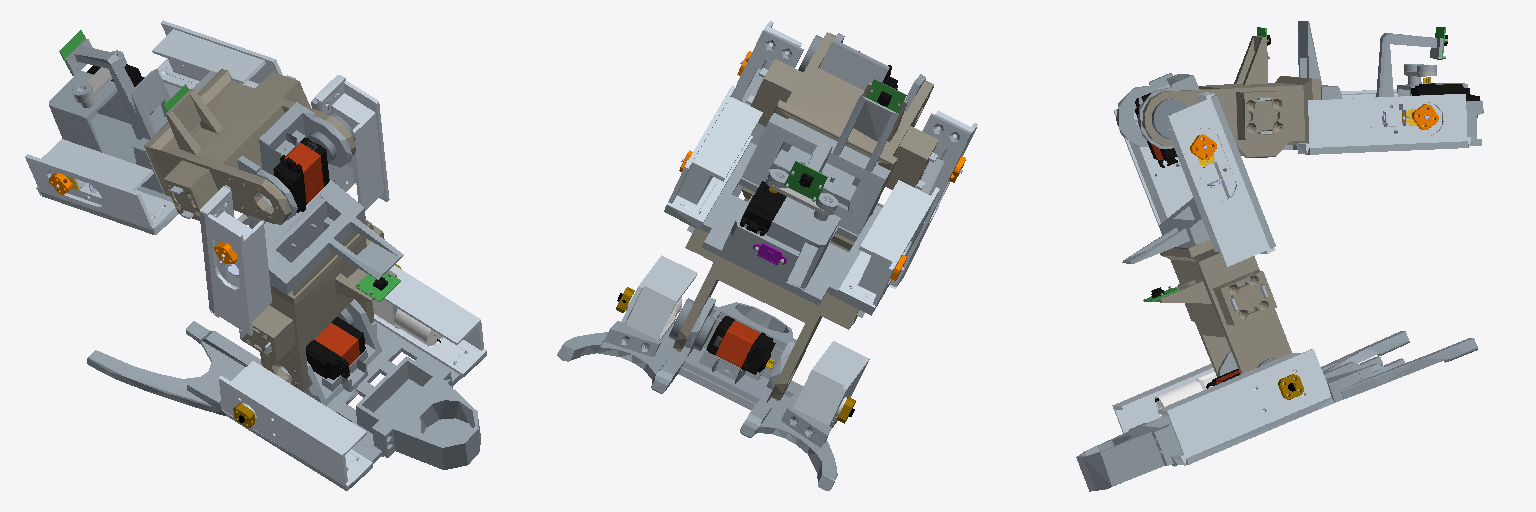
--- Render facts (derived) ---
3 views of the same robot in one strip: view 1: azimuth 30°, elevation 25°; view 2: azimuth 150°, elevation 25°; view 3: azimuth 270°, elevation 25° (orthographic).
Robot: modular_arm — 5 links, 4 joints (4 revolute); root link bot1; default pose: every joint at zero.
Visible links, largest first — view 1: endsegment, bot1, midsegment; view 2: endsegment, bot1, midsegment; view 3: midsegment, endsegment, bot1.
Link boxes in pixels (x1,y1,x2,y2): endsegment: (25,20,355,234); bot1: (87,264,486,490); midsegment: (199,75,403,391); endsegment: (664,32,939,315); bot1: (557,255,869,490); midsegment: (669,21,977,400); midsegment: (1114,73,1291,376); endsegment: (1117,21,1483,157); bot1: (1076,331,1477,491).
Bounding box of the posed robot: 0.2998 × 0.2994 × 0.3144 m (x, y, z).
Meshes: 85 distinct files referenced, 232 mesh visuals loaded (77 binary STL); not drawn: 11 (reference not matched to a file when rendering).

The robot description file, URDF, robot "modular_arm":
<robot name="modular_arm">
<link name="bot1">
<visual>
<origin xyz="0.0081837064445722685485 0.010723803857269779971 -0.1444902237498483788" rpy="2.1453176956961983457 1.0918657809631209243 0.90691641514801224488" />
<geometry>
<mesh filename="dchub.stl"/>
</geometry>
<material name="dchub_material">
<color rgba="0 0 0 1.0"/>
</material>
</visual>
<collision>
<origin xyz="0.0081837064445722685485 0.010723803857269779971 -0.1444902237498483788" rpy="2.1453176956961983457 1.0918657809631209243 0.90691641514801224488" />
<geometry>
<mesh filename="dchub.stl"/>
</geometry>
</collision>
<visual>
<origin xyz="0.064385462572451021557 0.033135729400711827486 -0.11114538601617256208" rpy="-2.1453176956961859112 -1.0918657809631071576 -2.2346762384417635516" />
<geometry>
<mesh filename="servobasescrewa.stl"/>
</geometry>
<material name="servobasescrewa_material">
<color rgba="0.10196078431372548878 0.10196078431372548878 0.10196078431372548878 1.0"/>
</material>
</visual>
<collision>
<origin xyz="0.064385462572451021557 0.033135729400711827486 -0.11114538601617256208" rpy="-2.1453176956961859112 -1.0918657809631071576 -2.2346762384417635516" />
<geometry>
<mesh filename="servobasescrewa.stl"/>
</geometry>
</collision>
<visual>
<origin xyz="0.064385462572451021557 0.033135729400711827486 -0.11114538601617256208" rpy="-2.1453176956961859112 -1.0918657809631071576 -2.2346762384417635516" />
<geometry>
<mesh filename="servobodyhidden.stl"/>
</geometry>
<material name="servobodyhidden_material">
<color rgba="0.64705882352941179736 0.51764705882352946009 0 1.0"/>
</material>
</visual>
<collision>
<origin xyz="0.064385462572451021557 0.033135729400711827486 -0.11114538601617256208" rpy="-2.1453176956961859112 -1.0918657809631071576 -2.2346762384417635516" />
<geometry>
<mesh filename="servobodyhidden.stl"/>
</geometry>
</collision>
<visual>
<origin xyz="0.0081837064445722685485 0.010723803857269779971 -0.1444902237498483788" rpy="2.1453176956961983457 1.0918657809631209243 0.90691641514801224488" />
<geometry>
<mesh filename="dcsocketb.stl"/>
</geometry>
<material name="dcsocketb_material">
<color rgba="0 0 0 1.0"/>
</material>
</visual>
<collision>
<origin xyz="0.0081837064445722685485 0.010723803857269779971 -0.1444902237498483788" rpy="2.1453176956961983457 1.0918657809631209243 0.90691641514801224488" />
<geometry>
<mesh filename="dcsocketb.stl"/>
</geometry>
</collision>
<visual>
<origin xyz="0.042216965619379681618 -0.057380879815870179661 -0.18849781179869271042" rpy="-1.2957668982257894985 -0.39720697603654209207 0.2767029042969176289" />
<geometry>
<mesh filename="platebase1_2_stilt1.stl"/>
</geometry>
<material name="platebase1(2)stilt1_material">
<color rgba="0.62352941176470588758 0.66666666666666662966 0.70196078431372543882 1.0"/>
</material>
</visual>
<collision>
<origin xyz="0.042216965619379681618 -0.057380879815870179661 -0.18849781179869271042" rpy="-1.2957668982257894985 -0.39720697603654209207 0.2767029042969176289" />
<geometry>
<mesh filename="platebase1_2_stilt1.stl"/>
</geometry>
</collision>
<visual>
<origin xyz="0.064385462572451021557 0.033135729400711827486 -0.11114538601617256208" rpy="-2.1453176956961859112 -1.0918657809631071576 -2.2346762384417635516" />
<geometry>
<mesh filename="servobasescrewc.stl"/>
</geometry>
<material name="servobasescrewc_material">
<color rgba="0.10196078431372548878 0.10196078431372548878 0.10196078431372548878 1.0"/>
</material>
</visual>
<collision>
<origin xyz="0.064385462572451021557 0.033135729400711827486 -0.11114538601617256208" rpy="-2.1453176956961859112 -1.0918657809631071576 -2.2346762384417635516" />
<geometry>
<mesh filename="servobasescrewc.stl"/>
</geometry>
</collision>
<visual>
<origin xyz="0.042206845482533270064 -0.057378549547601860603 -0.1884986939638342851" rpy="-1.2957683116204534723 -0.39720792675424199114 0.27670655794550508277" />
<geometry>
<mesh filename="platebase1_3.stl"/>
</geometry>
<material name="platebase1(3)_material">
<color rgba="0.62352941176470588758 0.66666666666666662966 0.70196078431372543882 1.0"/>
</material>
</visual>
<collision>
<origin xyz="0.042206845482533270064 -0.057378549547601860603 -0.1884986939638342851" rpy="-1.2957683116204534723 -0.39720792675424199114 0.27670655794550508277" />
<geometry>
<mesh filename="platebase1_3.stl"/>
</geometry>
</collision>
<visual>
<origin xyz="0.064385462572451021557 0.033135729400711827486 -0.11114538601617256208" rpy="-2.1453176956961859112 -1.0918657809631071576 -2.2346762384417635516" />
<geometry>
<mesh filename="servogearbase.stl"/>
</geometry>
<material name="servogearbase_material">
<color rgba="0.29803921568627450567 0.29803921568627450567 0.29803921568627450567 1.0"/>
</material>
</visual>
<collision>
<origin xyz="0.064385462572451021557 0.033135729400711827486 -0.11114538601617256208" rpy="-2.1453176956961859112 -1.0918657809631071576 -2.2346762384417635516" />
<geometry>
<mesh filename="servogearbase.stl"/>
</geometry>
</collision>
<visual>
<origin xyz="0.064385462572451021557 0.033135729400711827486 -0.11114538601617256208" rpy="-2.1453176956961859112 -1.0918657809631071576 -2.2346762384417635516" />
<geometry>
<mesh filename="servobasescrewb.stl"/>
</geometry>
<material name="servobasescrewb_material">
<color rgba="0.10196078431372548878 0.10196078431372548878 0.10196078431372548878 1.0"/>
</material>
</visual>
<collision>
<origin xyz="0.064385462572451021557 0.033135729400711827486 -0.11114538601617256208" rpy="-2.1453176956961859112 -1.0918657809631071576 -2.2346762384417635516" />
<geometry>
<mesh filename="servobasescrewb.stl"/>
</geometry>
</collision>
<visual>
<origin xyz="0.064385462572451021557 0.033135729400711827486 -0.11114538601617256208" rpy="-2.1453176956961859112 -1.0918657809631071576 -2.2346762384417635516" />
<geometry>
<mesh filename="servogear.stl"/>
</geometry>
<material name="servogear_material">
<color rgba="0.82745098039215680963 0.66666666666666662966 0.12941176470588236502 1.0"/>
</material>
</visual>
<collision>
<origin xyz="0.064385462572451021557 0.033135729400711827486 -0.11114538601617256208" rpy="-2.1453176956961859112 -1.0918657809631071576 -2.2346762384417635516" />
<geometry>
<mesh filename="servogear.stl"/>
</geometry>
</collision>
<visual>
<origin xyz="0.14808957773150399628 0.058459742986234158879 -0.080204709854196684637" rpy="1.8458243419693356469 -0.3972079267542417691 0.27670655794550563789" />
<geometry>
<mesh filename="screwhub_v0_1_6mm.stl"/>
</geometry>
<material name="screwhub_v0.1_6mm_material">
<color rgba="0.65098039215686276382 0.48627450980392156188 0.019607843137254901689 1.0"/>
</material>
</visual>
<collision>
<origin xyz="0.14808957773150399628 0.058459742986234158879 -0.080204709854196684637" rpy="1.8458243419693356469 -0.3972079267542417691 0.27670655794550563789" />
<geometry>
<mesh filename="screwhub_v0_1_6mm.stl"/>
</geometry>
</collision>
<visual>
<origin xyz="0.14301783859245889574 0.049015607671907025777 -0.085689759733414361254" rpy="-2.1453176956961823585 -1.0918657809631167055 -2.2346762384417857561" />
<geometry>
<mesh filename="dcsocketa.stl"/>
</geometry>
<material name="dcsocketa_material">
<color rgba="0 0 0 1.0"/>
</material>
</visual>
<collision>
<origin xyz="0.14301783859245889574 0.049015607671907025777 -0.085689759733414361254" rpy="-2.1453176956961823585 -1.0918657809631167055 -2.2346762384417857561" />
<geometry>
<mesh filename="dcsocketa.stl"/>
</geometry>
</collision>
<visual>
<origin xyz="0.040787079529889781748 -0.059193316483989379118 -0.18406125262829986511" rpy="-1.2957683116204576912 -0.39720792675424215767 0.27670655794550508277" />
<geometry>
<mesh filename="motormountleft.stl"/>
</geometry>
<material name="motormountleft_material">
<color rgba="0.81176470588235294379 0.85882352941176465233 0.89803921568627453897 1.0"/>
</material>
</visual>
<collision>
<origin xyz="0.040787079529889781748 -0.059193316483989379118 -0.18406125262829986511" rpy="-1.2957683116204576912 -0.39720792675424215767 0.27670655794550508277" />
<geometry>
<mesh filename="motormountleft.stl"/>
</geometry>
</collision>
<visual>
<origin xyz="-0.0027117542760007212234 0.015633383456705868264 -0.14596838671468201354" rpy="-0.27502801517443808965 0.39720792675424165807 -2.8648860956442883108" />
<geometry>
<mesh filename="screwhub_v0_1_6mm.stl"/>
</geometry>
<material name="screwhub_v0.1_6mm_material">
<color rgba="0.65098039215686276382 0.48627450980392156188 0.019607843137254901689 1.0"/>
</material>
</visual>
<collision>
<origin xyz="-0.0027117542760007212234 0.015633383456705868264 -0.14596838671468201354" rpy="-0.27502801517443808965 0.39720792675424165807 -2.8648860956442883108" />
<geometry>
<mesh filename="screwhub_v0_1_6mm.stl"/>
</geometry>
</collision>
<visual>
<origin xyz="0.0081837064445722685485 0.010723803857269779971 -0.1444902237498483788" rpy="2.1453176956961983457 1.0918657809631209243 0.90691641514801224488" />
<geometry>
<mesh filename="92010a811_passivated_18_8_stainless_steel_phillips_flat_head_screw.stl"/>
</geometry>
<material name="92010a811_passivated_18-8_stainless_steel_phillips_flat_head_screw_material">
<color rgba="0.96470588235294119084 0.96470588235294119084 0.95294117647058818044 1.0"/>
</material>
</visual>
<collision>
<origin xyz="0.0081837064445722685485 0.010723803857269779971 -0.1444902237498483788" rpy="2.1453176956961983457 1.0918657809631209243 0.90691641514801224488" />
<geometry>
<mesh filename="92010a811_passivated_18_8_stainless_steel_phillips_flat_head_screw.stl"/>
</geometry>
</collision>
<visual>
<origin xyz="0.0081837064445722685485 0.010723803857269779971 -0.1444902237498483788" rpy="2.1453176956961983457 1.0918657809631209243 0.90691641514801224488" />
<geometry>
<mesh filename="dcscrewb.stl"/>
</geometry>
<material name="dcscrewb_material">
<color rgba="0.96470588235294119084 0.96470588235294119084 0.95294117647058818044 1.0"/>
</material>
</visual>
<collision>
<origin xyz="0.0081837064445722685485 0.010723803857269779971 -0.1444902237498483788" rpy="2.1453176956961983457 1.0918657809631209243 0.90691641514801224488" />
<geometry>
<mesh filename="dcscrewb.stl"/>
</geometry>
</collision>
<visual>
<origin xyz="0.064385462572451021557 0.033135729400711827486 -0.11114538601617256208" rpy="-2.1453176956961859112 -1.0918657809631071576 -2.2346762384417635516" />
<geometry>
<mesh filename="servobase.stl"/>
</geometry>
<material name="servobase_material">
<color rgba="0.10196078431372548878 0.10196078431372548878 0.10196078431372548878 1.0"/>
</material>
</visual>
<collision>
<origin xyz="0.064385462572451021557 0.033135729400711827486 -0.11114538601617256208" rpy="-2.1453176956961859112 -1.0918657809631071576 -2.2346762384417635516" />
<geometry>
<mesh filename="servobase.stl"/>
</geometry>
</collision>
<visual>
<origin xyz="0.14301783859245889574 0.049015607671907025777 -0.085689759733414361254" rpy="-2.1453176956961823585 -1.0918657809631167055 -2.2346762384417857561" />
<geometry>
<mesh filename="dchub.stl"/>
</geometry>
<material name="dchub_material">
<color rgba="0 0 0 1.0"/>
</material>
</visual>
<collision>
<origin xyz="0.14301783859245889574 0.049015607671907025777 -0.085689759733414361254" rpy="-2.1453176956961823585 -1.0918657809631167055 -2.2346762384417857561" />
<geometry>
<mesh filename="dchub.stl"/>
</geometry>
</collision>
<visual>
<origin xyz="0.074026531486560104289 -0.0068563565467977113585 -0.10695113426402046153" rpy="-2.8665646384153458115 -0.39720792675424204665 0.27670655794550513829" />
<geometry>
<mesh filename="servomountbracket.stl"/>
</geometry>
<material name="servomountbracket_material">
<color rgba="0.62352941176470588758 0.66666666666666662966 0.70196078431372543882 1.0"/>
</material>
</visual>
<collision>
<origin xyz="0.074026531486560104289 -0.0068563565467977113585 -0.10695113426402046153" rpy="-2.8665646384153458115 -0.39720792675424204665 0.27670655794550513829" />
<geometry>
<mesh filename="servomountbracket.stl"/>
</geometry>
</collision>
<visual>
<origin xyz="0.0081837064445722685485 0.010723803857269779971 -0.1444902237498483788" rpy="2.1453176956961983457 1.0918657809631209243 0.90691641514801224488" />
<geometry>
<mesh filename="dcscrewa.stl"/>
</geometry>
<material name="dcscrewa_material">
<color rgba="0.96470588235294119084 0.96470588235294119084 0.95294117647058818044 1.0"/>
</material>
</visual>
<collision>
<origin xyz="0.0081837064445722685485 0.010723803857269779971 -0.1444902237498483788" rpy="2.1453176956961983457 1.0918657809631209243 0.90691641514801224488" />
<geometry>
<mesh filename="dcscrewa.stl"/>
</geometry>
</collision>
<visual>
<origin xyz="0.0081837064445722685485 0.010723803857269779971 -0.1444902237498483788" rpy="2.1453176956961983457 1.0918657809631209243 0.90691641514801224488" />
<geometry>
<mesh filename="dcbody.stl"/>
</geometry>
<material name="dcbody_material">
<color rgba="0.96078431372549022438 0.96078431372549022438 0.96470588235294119084 1.0"/>
</material>
</visual>
<collision>
<origin xyz="0.0081837064445722685485 0.010723803857269779971 -0.1444902237498483788" rpy="2.1453176956961983457 1.0918657809631209243 0.90691641514801224488" />
<geometry>
<mesh filename="dcbody.stl"/>
</geometry>
</collision>
<visual>
<origin xyz="0.064385462572451021557 0.033135729400711827486 -0.11114538601617256208" rpy="-2.1453176956961859112 -1.0918657809631071576 -2.2346762384417635516" />
<geometry>
<mesh filename="servobasescrewd.stl"/>
</geometry>
<material name="servobasescrewd_material">
<color rgba="0.10196078431372548878 0.10196078431372548878 0.10196078431372548878 1.0"/>
</material>
</visual>
<collision>
<origin xyz="0.064385462572451021557 0.033135729400711827486 -0.11114538601617256208" rpy="-2.1453176956961859112 -1.0918657809631071576 -2.2346762384417635516" />
<geometry>
<mesh filename="servobasescrewd.stl"/>
</geometry>
</collision>
<visual>
<origin xyz="0.064385462572451021557 0.033135729400711827486 -0.11114538601617256208" rpy="-2.1453176956961859112 -1.0918657809631071576 -2.2346762384417635516" />
<geometry>
<mesh filename="servosocket.stl"/>
</geometry>
<material name="servosocket_material">
<color rgba="0.29803921568627450567 0.29803921568627450567 0.29803921568627450567 1.0"/>
</material>
</visual>
<collision>
<origin xyz="0.064385462572451021557 0.033135729400711827486 -0.11114538601617256208" rpy="-2.1453176956961859112 -1.0918657809631071576 -2.2346762384417635516" />
<geometry>
<mesh filename="servosocket.stl"/>
</geometry>
</collision>
<visual>
<origin xyz="0.15787987850042300986 -0.025939907908119525654 -0.13299769177192252712" rpy="-1.2957683116204570251 -0.39720792675424210216 0.27670655794550502726" />
<geometry>
<mesh filename="motormountright.stl"/>
</geometry>
<material name="motormountright_material">
<color rgba="0.81176470588235294379 0.85882352941176465233 0.89803921568627453897 1.0"/>
</material>
</visual>
<collision>
<origin xyz="0.15787987850042300986 -0.025939907908119525654 -0.13299769177192252712" rpy="-1.2957683116204570251 -0.39720792675424210216 0.27670655794550502726" />
<geometry>
<mesh filename="motormountright.stl"/>
</geometry>
</collision>
<visual>
<origin xyz="0.14301783859245889574 0.049015607671907025777 -0.085689759733414361254" rpy="-2.1453176956961823585 -1.0918657809631167055 -2.2346762384417857561" />
<geometry>
<mesh filename="dcbody.stl"/>
</geometry>
<material name="dcbody_material">
<color rgba="0.96078431372549022438 0.96078431372549022438 0.96470588235294119084 1.0"/>
</material>
</visual>
<collision>
<origin xyz="0.14301783859245889574 0.049015607671907025777 -0.085689759733414361254" rpy="-2.1453176956961823585 -1.0918657809631167055 -2.2346762384417857561" />
<geometry>
<mesh filename="dcbody.stl"/>
</geometry>
</collision>
<visual>
<origin xyz="0.064385462572451021557 0.033135729400711827486 -0.11114538601617256208" rpy="-2.1453176956961859112 -1.0918657809631071576 -2.2346762384417635516" />
<geometry>
<mesh filename="servobody.stl"/>
</geometry>
<material name="servobody_material">
<color rgba="0.72941176470588231506 0.25098039215686274161 0.10588235294117646912 1.0"/>
</material>
</visual>
<collision>
<origin xyz="0.064385462572451021557 0.033135729400711827486 -0.11114538601617256208" rpy="-2.1453176956961859112 -1.0918657809631071576 -2.2346762384417635516" />
<geometry>
<mesh filename="servobody.stl"/>
</geometry>
</collision>
<visual>
<origin xyz="0.042206845482532610869 -0.057378549547602186731 -0.18849869396383456266" rpy="-1.2957683116204503637 -0.39720792675424199114 0.27670655794550508277" />
<geometry>
<mesh filename="platebase1_1.stl"/>
</geometry>
<material name="platebase1(1)_material">
<color rgba="0.62352941176470588758 0.66666666666666662966 0.70196078431372543882 1.0"/>
</material>
</visual>
<collision>
<origin xyz="0.042206845482532610869 -0.057378549547602186731 -0.18849869396383456266" rpy="-1.2957683116204503637 -0.39720792675424199114 0.27670655794550508277" />
<geometry>
<mesh filename="platebase1_1.stl"/>
</geometry>
</collision>
<visual>
<origin xyz="0.14301783859245889574 0.049015607671907025777 -0.085689759733414361254" rpy="-2.1453176956961823585 -1.0918657809631167055 -2.2346762384417857561" />
<geometry>
<mesh filename="dcsocketb.stl"/>
</geometry>
<material name="dcsocketb_material">
<color rgba="0 0 0 1.0"/>
</material>
</visual>
<collision>
<origin xyz="0.14301783859245889574 0.049015607671907025777 -0.085689759733414361254" rpy="-2.1453176956961823585 -1.0918657809631167055 -2.2346762384417857561" />
<geometry>
<mesh filename="dcsocketb.stl"/>
</geometry>
</collision>
<visual>
<origin xyz="0.042221834496801106951 -0.057375013585719926434 -0.18849374553948713973" rpy="-1.2957919459780098403 -0.39722382323059313158 0.27676765192400631932" />
<geometry>
<mesh filename="platebase1_2_stilt2.stl"/>
</geometry>
<material name="platebase1(2)stilt2_material">
<color rgba="0.62352941176470588758 0.66666666666666662966 0.70196078431372543882 1.0"/>
</material>
</visual>
<collision>
<origin xyz="0.042221834496801106951 -0.057375013585719926434 -0.18849374553948713973" rpy="-1.2957919459780098403 -0.39722382323059313158 0.27676765192400631932" />
<geometry>
<mesh filename="platebase1_2_stilt2.stl"/>
</geometry>
</collision>
<visual>
<origin xyz="0.14301783859245889574 0.049015607671907025777 -0.085689759733414361254" rpy="-2.1453176956961823585 -1.0918657809631167055 -2.2346762384417857561" />
<geometry>
<mesh filename="dcscrewa.stl"/>
</geometry>
<material name="dcscrewa_material">
<color rgba="0.96470588235294119084 0.96470588235294119084 0.95294117647058818044 1.0"/>
</material>
</visual>
<collision>
<origin xyz="0.14301783859245889574 0.049015607671907025777 -0.085689759733414361254" rpy="-2.1453176956961823585 -1.0918657809631167055 -2.2346762384417857561" />
<geometry>
<mesh filename="dcscrewa.stl"/>
</geometry>
</collision>
<visual>
<origin xyz="0.0081837064445722685485 0.010723803857269779971 -0.1444902237498483788" rpy="2.1453176956961983457 1.0918657809631209243 0.90691641514801224488" />
<geometry>
<mesh filename="dcsocketa.stl"/>
</geometry>
<material name="dcsocketa_material">
<color rgba="0 0 0 1.0"/>
</material>
</visual>
<collision>
<origin xyz="0.0081837064445722685485 0.010723803857269779971 -0.1444902237498483788" rpy="2.1453176956961983457 1.0918657809631209243 0.90691641514801224488" />
<geometry>
<mesh filename="dcsocketa.stl"/>
</geometry>
</collision>
<visual>
<origin xyz="0.14301783859245889574 0.049015607671907025777 -0.085689759733414361254" rpy="-2.1453176956961823585 -1.0918657809631167055 -2.2346762384417857561" />
<geometry>
<mesh filename="92010a811_passivated_18_8_stainless_steel_phillips_flat_head_screw.stl"/>
</geometry>
<material name="92010a811_passivated_18-8_stainless_steel_phillips_flat_head_screw_material">
<color rgba="0.96470588235294119084 0.96470588235294119084 0.95294117647058818044 1.0"/>
</material>
</visual>
<collision>
<origin xyz="0.14301783859245889574 0.049015607671907025777 -0.085689759733414361254" rpy="-2.1453176956961823585 -1.0918657809631167055 -2.2346762384417857561" />
<geometry>
<mesh filename="92010a811_passivated_18_8_stainless_steel_phillips_flat_head_screw.stl"/>
</geometry>
</collision>
<visual>
<origin xyz="0.14301783859245889574 0.049015607671907025777 -0.085689759733414361254" rpy="-2.1453176956961823585 -1.0918657809631167055 -2.2346762384417857561" />
<geometry>
<mesh filename="dcscrewb.stl"/>
</geometry>
<material name="dcscrewb_material">
<color rgba="0.96470588235294119084 0.96470588235294119084 0.95294117647058818044 1.0"/>
</material>
</visual>
<collision>
<origin xyz="0.14301783859245889574 0.049015607671907025777 -0.085689759733414361254" rpy="-2.1453176956961823585 -1.0918657809631167055 -2.2346762384417857561" />
<geometry>
<mesh filename="dcscrewb.stl"/>
</geometry>
</collision>
<visual>
<origin xyz="0.064385462572451021557 0.033135729400711827486 -0.11114538601617256208" rpy="-2.1453176956961859112 -1.0918657809631071576 -2.2346762384417635516" />
<geometry>
<mesh filename="servobodycap.stl"/>
</geometry>
<material name="servobodycap_material">
<color rgba="0.10196078431372548878 0.10196078431372548878 0.10196078431372548878 1.0"/>
</material>
</visual>
<collision>
<origin xyz="0.064385462572451021557 0.033135729400711827486 -0.11114538601617256208" rpy="-2.1453176956961859112 -1.0918657809631071576 -2.2346762384417635516" />
<geometry>
<mesh filename="servobodycap.stl"/>
</geometry>
</collision>
<inertial>
<origin xyz="0.082799334722639367223 0.021867183477920222601 -0.1224769475868391494" rpy="0 0 0"/>
<mass value="0.78235266504813871791" />
<inertia ixx="0.0021785107311658724605" ixy="-4.0505184073070797418e-05"  ixz="-0.00069891637346004083405" iyy="0.0028401386221302547287" iyz="-0.00058981648247020132883" izz="0.0038472494763998159317" />
</inertial>
</link>

<link name="midsegment">
<visual>
<origin xyz="0.029499867658720150404 0.094000000000000111244 -0.045999999938874054639" rpy="-1.5707963267948923392 -1.570796326794896336 0" />
<geometry>
<mesh filename="platebase2_2.stl"/>
</geometry>
<material name="platebase2(2)_material">
<color rgba="0.62352941176470588758 0.66666666666666662966 0.70196078431372543882 1.0"/>
</material>
</visual>
<collision>
<origin xyz="0.029499867658720150404 0.094000000000000111244 -0.045999999938874054639" rpy="-1.5707963267948923392 -1.570796326794896336 0" />
<geometry>
<mesh filename="platebase2_2.stl"/>
</geometry>
</collision>
<visual>
<origin xyz="-1.323412801637613434e-07 0.20650000000000018341 0.027400000061124328565" rpy="-1.570796326794891673 9.3136758506717934223e-15 3.1415926535897829019" />
<geometry>
<mesh filename="servobasescrewa.stl"/>
</geometry>
<material name="servobasescrewa_material">
<color rgba="0.10196078431372548878 0.10196078431372548878 0.10196078431372548878 1.0"/>
</material>
</visual>
<collision>
<origin xyz="-1.323412801637613434e-07 0.20650000000000018341 0.027400000061124328565" rpy="-1.570796326794891673 9.3136758506717934223e-15 3.1415926535897829019" />
<geometry>
<mesh filename="servobasescrewa.stl"/>
</geometry>
</collision>
<visual>
<origin xyz="-1.323412801637613434e-07 0.20650000000000018341 0.027400000061124328565" rpy="-1.570796326794891673 9.3136758506717934223e-15 3.1415926535897829019" />
<geometry>
<mesh filename="servobodyhidden.stl"/>
</geometry>
<material name="servobodyhidden_material">
<color rgba="0.64705882352941179736 0.51764705882352946009 0 1.0"/>
</material>
</visual>
<collision>
<origin xyz="-1.323412801637613434e-07 0.20650000000000018341 0.027400000061124328565" rpy="-1.570796326794891673 9.3136758506717934223e-15 3.1415926535897829019" />
<geometry>
<mesh filename="servobodyhidden.stl"/>
</geometry>
</collision>
<visual>
<origin xyz="-1.323412801637613434e-07 0.20650000000000018341 0.027400000061124328565" rpy="-1.570796326794891673 9.3136758506717934223e-15 3.1415926535897829019" />
<geometry>
<mesh filename="servobasescrewc.stl"/>
</geometry>
<material name="servobasescrewc_material">
<color rgba="0.10196078431372548878 0.10196078431372548878 0.10196078431372548878 1.0"/>
</material>
</visual>
<collision>
<origin xyz="-1.323412801637613434e-07 0.20650000000000018341 0.027400000061124328565" rpy="-1.570796326794891673 9.3136758506717934223e-15 3.1415926535897829019" />
<geometry>
<mesh filename="servobasescrewc.stl"/>
</geometry>
</collision>
<visual>
<origin xyz="-1.323412801637613434e-07 0.20650000000000018341 0.027400000061124328565" rpy="-1.570796326794891673 9.3136758506717934223e-15 3.1415926535897829019" />
<geometry>
<mesh filename="servogearbase.stl"/>
</geometry>
<material name="servogearbase_material">
<color rgba="0.29803921568627450567 0.29803921568627450567 0.29803921568627450567 1.0"/>
</material>
</visual>
<collision>
<origin xyz="-1.323412801637613434e-07 0.20650000000000018341 0.027400000061124328565" rpy="-1.570796326794891673 9.3136758506717934223e-15 3.1415926535897829019" />
<geometry>
<mesh filename="servogearbase.stl"/>
</geometry>
</collision>
<visual>
<origin xyz="0.024499867658720118208 0.094000000000000194511 0.086000000061124473594" rpy="-1.5707963267948925612 -1.570796326794896558 0" />
<geometry>
<mesh filename="motormountrightsmall.stl"/>
</geometry>
<material name="motormountrightsmall_material">
<color rgba="0.81176470588235294379 0.85882352941176465233 0.89803921568627453897 1.0"/>
</material>
</visual>
<collision>
<origin xyz="0.024499867658720118208 0.094000000000000194511 0.086000000061124473594" rpy="-1.5707963267948925612 -1.570796326794896558 0" />
<geometry>
<mesh filename="motormountrightsmall.stl"/>
</geometry>
</collision>
<visual>
<origin xyz="-1.323412801637613434e-07 0.20650000000000018341 0.027400000061124328565" rpy="-1.570796326794891673 9.3136758506717934223e-15 3.1415926535897829019" />
<geometry>
<mesh filename="servobasescrewb.stl"/>
</geometry>
<material name="servobasescrewb_material">
<color rgba="0.10196078431372548878 0.10196078431372548878 0.10196078431372548878 1.0"/>
</material>
</visual>
<collision>
<origin xyz="-1.323412801637613434e-07 0.20650000000000018341 0.027400000061124328565" rpy="-1.570796326794891673 9.3136758506717934223e-15 3.1415926535897829019" />
<geometry>
<mesh filename="servobasescrewb.stl"/>
</geometry>
</collision>
<visual>
<origin xyz="-1.323412801637613434e-07 0.20650000000000018341 0.027400000061124328565" rpy="-1.570796326794891673 9.3136758506717934223e-15 3.1415926535897829019" />
<geometry>
<mesh filename="servogear.stl"/>
</geometry>
<material name="servogear_material">
<color rgba="0.82745098039215680963 0.66666666666666662966 0.12941176470588236502 1.0"/>
</material>
</visual>
<collision>
<origin xyz="-1.323412801637613434e-07 0.20650000000000018341 0.027400000061124328565" rpy="-1.570796326794891673 9.3136758506717934223e-15 3.1415926535897829019" />
<geometry>
<mesh filename="servogear.stl"/>
</geometry>
</collision>
<visual>
<origin xyz="0.0054798676587238699665 0.18249392534463881876 -0.046451166347300829051" rpy="-2.562883018731769269 1.5707963267945259656 0" />
<geometry>
<mesh filename="screwhub_v0_1_3mm.stl"/>
</geometry>
<material name="screwhub_v0.1_3mm_material">
<color rgba="0.97254901960784312376 0.52941176470588235947 0.0039215686274509803377 1.0"/>
</material>
</visual>
<collision>
<origin xyz="0.0054798676587238699665 0.18249392534463881876 -0.046451166347300829051" rpy="-2.562883018731769269 1.5707963267945259656 0" />
<geometry>
<mesh filename="screwhub_v0_1_3mm.stl"/>
</geometry>
</collision>
<visual>
<origin xyz="0.0054798676587208515476 0.18249392534463135251 0.11445116646955195983" rpy="0.57870963485806803384 -1.570796326794896336 0" />
<geometry>
<mesh filename="screwhub_v0_1_3mm.stl"/>
</geometry>
<material name="screwhub_v0.1_3mm_material">
<color rgba="0.97254901960784312376 0.52941176470588235947 0.0039215686274509803377 1.0"/>
</material>
</visual>
<collision>
<origin xyz="0.0054798676587208515476 0.18249392534463135251 0.11445116646955195983" rpy="0.57870963485806803384 -1.570796326794896336 0" />
<geometry>
<mesh filename="screwhub_v0_1_3mm.stl"/>
</geometry>
</collision>
<visual>
<origin xyz="-1.323412801637613434e-07 0.20650000000000018341 0.027400000061124328565" rpy="-1.570796326794891673 9.3136758506717934223e-15 3.1415926535897829019" />
<geometry>
<mesh filename="servobase.stl"/>
</geometry>
<material name="servobase_material">
<color rgba="0.10196078431372548878 0.10196078431372548878 0.10196078431372548878 1.0"/>
</material>
</visual>
<collision>
<origin xyz="-1.323412801637613434e-07 0.20650000000000018341 0.027400000061124328565" rpy="-1.570796326794891673 9.3136758506717934223e-15 3.1415926535897829019" />
<geometry>
<mesh filename="servobase.stl"/>
</geometry>
</collision>
<visual>
<origin xyz="-0.0155001323412801012 0.16826399999999988588 0.02750000006112445633" rpy="-3.1415926535897891192 -1.570796326794896336 0" />
<geometry>
<mesh filename="servomountbracket.stl"/>
</geometry>
<material name="servomountbracket_material">
<color rgba="0.62352941176470588758 0.66666666666666662966 0.70196078431372543882 1.0"/>
</material>
</visual>
<collision>
<origin xyz="-0.0155001323412801012 0.16826399999999988588 0.02750000006112445633" rpy="-3.1415926535897891192 -1.570796326794896336 0" />
<geometry>
<mesh filename="servomountbracket.stl"/>
</geometry>
</collision>
<visual>
<origin xyz="-1.323412801637613434e-07 0.20650000000000018341 0.027400000061124328565" rpy="-1.570796326794891673 9.3136758506717934223e-15 3.1415926535897829019" />
<geometry>
<mesh filename="servobasescrewd.stl"/>
</geometry>
<material name="servobasescrewd_material">
<color rgba="0.10196078431372548878 0.10196078431372548878 0.10196078431372548878 1.0"/>
</material>
</visual>
<collision>
<origin xyz="-1.323412801637613434e-07 0.20650000000000018341 0.027400000061124328565" rpy="-1.570796326794891673 9.3136758506717934223e-15 3.1415926535897829019" />
<geometry>
<mesh filename="servobasescrewd.stl"/>
</geometry>
</collision>
<visual>
<origin xyz="-1.323412801637613434e-07 0.20650000000000018341 0.027400000061124328565" rpy="-1.570796326794891673 9.3136758506717934223e-15 3.1415926535897829019" />
<geometry>
<mesh filename="servosocket.stl"/>
</geometry>
<material name="servosocket_material">
<color rgba="0.29803921568627450567 0.29803921568627450567 0.29803921568627450567 1.0"/>
</material>
</visual>
<collision>
<origin xyz="-1.323412801637613434e-07 0.20650000000000018341 0.027400000061124328565" rpy="-1.570796326794891673 9.3136758506717934223e-15 3.1415926535897829019" />
<geometry>
<mesh filename="servosocket.stl"/>
</geometry>
</collision>
<visual>
<origin xyz="-1.323412801637613434e-07 0.20650000000000018341 0.027400000061124328565" rpy="-1.570796326794891673 9.3136758506717934223e-15 3.1415926535897829019" />
<geometry>
<mesh filename="servobody.stl"/>
</geometry>
<material name="servobody_material">
<color rgba="0.72941176470588231506 0.25098039215686274161 0.10588235294117646912 1.0"/>
</material>
</visual>
<collision>
<origin xyz="-1.323412801637613434e-07 0.20650000000000018341 0.027400000061124328565" rpy="-1.570796326794891673 9.3136758506717934223e-15 3.1415926535897829019" />
<geometry>
<mesh filename="servobody.stl"/>
</geometry>
</collision>
<visual>
<origin xyz="0.029499867658720195507 0.094000000000000166755 -0.045999999938873617489" rpy="-1.5707963267948923392 -1.570796326794896336 0" />
<geometry>
<mesh filename="platebase2_1.stl"/>
</geometry>
<material name="platebase2(1)_material">
<color rgba="0.62352941176470588758 0.66666666666666662966 0.70196078431372543882 1.0"/>
</material>
</visual>
<collision>
<origin xyz="0.029499867658720195507 0.094000000000000166755 -0.045999999938873617489" rpy="-1.5707963267948923392 -1.570796326794896336 0" />
<geometry>
<mesh filename="platebase2_1.stl"/>
</geometry>
</collision>
<visual>
<origin xyz="0.024499867658720111269 0.093999999999999819811 -0.045999999938873652183" rpy="-1.5707963267948923392 -1.570796326794896336 0" />
<geometry>
<mesh filename="motormountleftsmall.stl"/>
</geometry>
<material name="motormountleftsmall_material">
<color rgba="0.81176470588235294379 0.85882352941176465233 0.89803921568627453897 1.0"/>
</material>
</visual>
<collision>
<origin xyz="0.024499867658720111269 0.093999999999999819811 -0.045999999938873652183" rpy="-1.5707963267948923392 -1.570796326794896336 0" />
<geometry>
<mesh filename="motormountleftsmall.stl"/>
</geometry>
</collision>
<visual>
<origin xyz="-1.323412801637613434e-07 0.20650000000000018341 0.027400000061124328565" rpy="-1.570796326794891673 9.3136758506717934223e-15 3.1415926535897829019" />
<geometry>
<mesh filename="servobodycap.stl"/>
</geometry>
<material name="servobodycap_material">
<color rgba="0.10196078431372548878 0.10196078431372548878 0.10196078431372548878 1.0"/>
</material>
</visual>
<collision>
<origin xyz="-1.323412801637613434e-07 0.20650000000000018341 0.027400000061124328565" rpy="-1.570796326794891673 9.3136758506717934223e-15 3.1415926535897829019" />
<geometry>
<mesh filename="servobodycap.stl"/>
</geometry>
</collision>
<visual>
<origin xyz="-1.3877787807814456755e-17 2.7755575615628913511e-17 0.080999999999999974798" rpy="1.5707963267949032193 -7.1838895016225726542e-15 -1.5707963267949001107" />
<geometry>
<mesh filename="liftaxle2.stl"/>
</geometry>
<material name="liftaxle2_material">
<color rgba="0.52941176470588235947 0.56862745098039213509 0.5999999999999999778 1.0"/>
</material>
</visual>
<collision>
<origin xyz="-1.3877787807814456755e-17 2.7755575615628913511e-17 0.080999999999999974798" rpy="1.5707963267949032193 -7.1838895016225726542e-15 -1.5707963267949001107" />
<geometry>
<mesh filename="liftaxle2.stl"/>
</geometry>
</collision>
<visual>
<origin xyz="1.2836953722228372499e-16 0 0.011999999999999854533" rpy="1.5707963267948901187 -9.2420524929299966043e-17 -2.5613643414087279644e-16" />
<geometry>
<mesh filename="liftaxle3.stl"/>
</geometry>
<material name="liftaxle3_material">
<color rgba="0.52941176470588235947 0.56862745098039213509 0.5999999999999999778 1.0"/>
</material>
</visual>
<collision>
<origin xyz="1.2836953722228372499e-16 0 0.011999999999999854533" rpy="1.5707963267948901187 -9.2420524929299966043e-17 -2.5613643414087279644e-16" />
<geometry>
<mesh filename="liftaxle3.stl"/>
</geometry>
</collision>
<visual>
<origin xyz="0.014024999999999961109 0.060600000000000001088 -0.016499999999999903633" rpy="-1.57079632679489678 6.754405100243049754e-15 1.5707963267948930053" />
<geometry>
<mesh filename="lockpin.stl"/>
</geometry>
<material name="lockpin_material">
<color rgba="0.71372549019607844922 0.76078431372549015776 0.80000000000000004441 1.0"/>
</material>
</visual>
<collision>
<origin xyz="0.014024999999999961109 0.060600000000000001088 -0.016499999999999903633" rpy="-1.57079632679489678 6.754405100243049754e-15 1.5707963267948930053" />
<geometry>
<mesh filename="lockpin.stl"/>
</geometry>
</collision>
<visual>
<origin xyz="-0.014025000000000051315 0.060600000000000001088 0.08450000000000001954" rpy="1.5707963267948898967 7.3775904748801924927e-15 1.5707963267948925612" />
<geometry>
<mesh filename="lockpin.stl"/>
</geometry>
<material name="lockpin_material">
<color rgba="0.71372549019607844922 0.76078431372549015776 0.80000000000000004441 1.0"/>
</material>
</visual>
<collision>
<origin xyz="-0.014025000000000051315 0.060600000000000001088 0.08450000000000001954" rpy="1.5707963267948898967 7.3775904748801924927e-15 1.5707963267948925612" />
<geometry>
<mesh filename="lockpin.stl"/>
</geometry>
</collision>
<visual>
<origin xyz="-0.017500000000000119627 0.050000000000000016653 0.090999999999999928169" rpy="-1.5707963267949041075 -6.935934082337105284e-15 -2.9971479095978383467e-17" />
<geometry>
<mesh filename="lockcap.stl"/>
</geometry>
<material name="lockcap_material">
<color rgba="0.5999999999999999778 0.5803921568627451455 0.52941176470588235947 1.0"/>
</material>
</visual>
<collision>
<origin xyz="-0.017500000000000119627 0.050000000000000016653 0.090999999999999928169" rpy="-1.5707963267949041075 -6.935934082337105284e-15 -2.9971479095978383467e-17" />
<geometry>
<mesh filename="lockcap.stl"/>
</geometry>
</collision>
<visual>
<origin xyz="0.017499999999999918399 0.050000000000000030531 -0.02299999999999975675" rpy="1.5707963267949036634 1.5056182958957380586e-16 3.141592653589793116" />
<geometry>
<mesh filename="lockcap.stl"/>
</geometry>
<material name="lockcap_material">
<color rgba="0.5999999999999999778 0.5803921568627451455 0.52941176470588235947 1.0"/>
</material>
</visual>
<collision>
<origin xyz="0.017499999999999918399 0.050000000000000030531 -0.02299999999999975675" rpy="1.5707963267949036634 1.5056182958957380586e-16 3.141592653589793116" />
<geometry>
<mesh filename="lockcap.stl"/>
</geometry>
</collision>
<visual>
<origin xyz="9.0205620750793968909e-17 0 0.0069999999999998830519" rpy="3.141592653589793116 -1.5707963267948898967 0" />
<geometry>
<mesh filename="liftaxle4.stl"/>
</geometry>
<material name="liftaxle4_material">
<color rgba="0.52941176470588235947 0.56862745098039213509 0.5999999999999999778 1.0"/>
</material>
</visual>
<collision>
<origin xyz="9.0205620750793968909e-17 0 0.0069999999999998830519" rpy="3.141592653589793116 -1.5707963267948898967 0" />
<geometry>
<mesh filename="liftaxle4.stl"/>
</geometry>
</collision>
<visual>
<origin xyz="0.0012768425156399823561 -0.0012687380447342355705 0.05700000000000021716" rpy="-1.5707963267949038855 -6.9340309495708480447e-15 -5.1845397857741660736e-16" />
<geometry>
<mesh filename="liftaxle1.stl"/>
</geometry>
<material name="liftaxle1_material">
<color rgba="0.52941176470588235947 0.56862745098039213509 0.5999999999999999778 1.0"/>
</material>
</visual>
<collision>
<origin xyz="0.0012768425156399823561 -0.0012687380447342355705 0.05700000000000021716" rpy="-1.5707963267949038855 -6.9340309495708480447e-15 -5.1845397857741660736e-16" />
<geometry>
<mesh filename="liftaxle1.stl"/>
</geometry>
</collision>
<visual>
<origin xyz="0.017500000000000008604 -0.029999999999999971134 -0.0069999999999999975436" rpy="-1.570796326794896558 -1.570796326794896558 0" />
<geometry>
<mesh filename="liftarmbot1.stl"/>
</geometry>
<material name="liftarmbot1_material">
<color rgba="0.5999999999999999778 0.5803921568627451455 0.52941176470588235947 1.0"/>
</material>
</visual>
<collision>
<origin xyz="0.017500000000000008604 -0.029999999999999971134 -0.0069999999999999975436" rpy="-1.570796326794896558 -1.570796326794896558 0" />
<geometry>
<mesh filename="liftarmbot1.stl"/>
</geometry>
</collision>
<visual>
<origin xyz="0.0054798676587193284604 0.1699939253446325349 0.11028241646955191935" rpy="7.2694762550686867384e-15 5.7520989593074171204e-15 -3.1415926535897891192" />
<geometry>
<mesh filename="m1_6_x_2_5mm_lg_flat_head_screws_jis.stl"/>
</geometry>
<material name="m1.6_x_2.5mm_lg_flat_head_screws_jis_material">
<color rgba="0.75294117647058822484 0.75294117647058822484 0.75294117647058822484 1.0"/>
</material>
</visual>
<collision>
<origin xyz="0.0054798676587193284604 0.1699939253446325349 0.11028241646955191935" rpy="7.2694762550686867384e-15 5.7520989593074171204e-15 -3.1415926535897891192" />
<geometry>
<mesh filename="m1_6_x_2_5mm_lg_flat_head_screws_jis.stl"/>
</geometry>
</collision>
<visual>
<origin xyz="0.005479867658719876633 0.17049392534463220228 0.10600116646955205779" rpy="2.0071286397934784418 -7.3553731353444644696e-15 -1.5707963267948950037" />
<geometry>
<mesh filename="worm_0_2m_x_3_25mm_od_x_1mm_id.stl"/>
</geometry>
<material name="worm_0.2m_x_3.25mm_od_x_1mm_id_material">
<color rgba="0.94901960784313721398 0.76078431372549015776 0.18039215686274509554 1.0"/>
</material>
</visual>
<collision>
<origin xyz="0.005479867658719876633 0.17049392534463220228 0.10600116646955205779" rpy="2.0071286397934784418 -7.3553731353444644696e-15 -1.5707963267948950037" />
<geometry>
<mesh filename="worm_0_2m_x_3_25mm_od_x_1mm_id.stl"/>
</geometry>
</collision>
<visual>
<origin xyz="0.0097298676587213792089 0.1848439253446308439 0.10600116646955250188" rpy="4.1458040703760733583e-15 -1.570796326794896336 0" />
<geometry>
<mesh filename="n20_right_angle_gearbox___7_9mm_spacer.stl"/>
</geometry>
<material name="n20_right_angle_gearbox_-_7.9mm_spacer_material">
<color rgba="0.94901960784313721398 0.76078431372549015776 0.18039215686274509554 1.0"/>
</material>
</visual>
<collision>
<origin xyz="0.0097298676587213792089 0.1848439253446308439 0.10600116646955250188" rpy="4.1458040703760733583e-15 -1.570796326794896336 0" />
<geometry>
<mesh filename="n20_right_angle_gearbox___7_9mm_spacer.stl"/>
</geometry>
</collision>
<visual>
<origin xyz="0.005479867658721056245 0.18249392534463085291 0.10120116646955226725" rpy="1.5707963267949009989 -1.570796326794896336 0" />
<geometry>
<mesh filename="n20_right_angle_gearbox___output_shaft.stl"/>
</geometry>
<material name="n20_right_angle_gearbox_-_output_shaft_material">
<color rgba="0.79607843137254896693 0.82352941176470584317 0.9372549019607843146 1.0"/>
</material>
</visual>
<collision>
<origin xyz="0.005479867658721056245 0.18249392534463085291 0.10120116646955226725" rpy="1.5707963267949009989 -1.570796326794896336 0" />
<geometry>
<mesh filename="n20_right_angle_gearbox___output_shaft.stl"/>
</geometry>
</collision>
<visual>
<origin xyz="0.0054798676587198939802 0.16849392534463222826 0.10600116646955225208" rpy="-3.1415926535897860106 5.7520989593074171204e-15 -3.1415926535897891192" />
<geometry>
<mesh filename="n20_dc_motor_face_adaptor.stl"/>
</geometry>
<material name="n20_dc_motor_face_adaptor_material">
<color rgba="0.79607843137254896693 0.82352941176470584317 0.9372549019607843146 1.0"/>
</material>
</visual>
<collision>
<origin xyz="0.0054798676587198939802 0.16849392534463222826 0.10600116646955225208" rpy="-3.1415926535897860106 5.7520989593074171204e-15 -3.1415926535897891192" />
<geometry>
<mesh filename="n20_dc_motor_face_adaptor.stl"/>
</geometry>
</collision>
<visual>
<origin xyz="0.0025393441290543668221 0.17624615320859615686 0.10925116646955189414" rpy="-1.2534547030600293041e-14 7.6937003495900458485e-15 1.5707963267948978903" />
<geometry>
<mesh filename="gear_0_2m_23t___20_degree_pressure_angle.stl"/>
</geometry>
<material name="gear_0.2m_23t_-_20_degree_pressure_angle_material">
<color rgba="0.64705882352941179736 0.61960784313725492112 0.58823529411764707842 1.0"/>
</material>
</visual>
<collision>
<origin xyz="0.0025393441290543668221 0.17624615320859615686 0.10925116646955189414" rpy="-1.2534547030600293041e-14 7.6937003495900458485e-15 1.5707963267948978903" />
<geometry>
<mesh filename="gear_0_2m_23t___20_degree_pressure_angle.stl"/>
</geometry>
</collision>
<visual>
<origin xyz="0.0019798676587196480103 0.17299392534463217674 0.1058011664695520937" rpy="7.2862725102355967692e-15 1.2184368382340626744e-14 3.0962140930379637993" />
<geometry>
<mesh filename="worm_gear_0_2m_20t___1mm_id.stl"/>
</geometry>
<material name="worm_gear_0.2m_20t_-_1mm_id_material">
<color rgba="0.94901960784313721398 0.76078431372549015776 0.18039215686274509554 1.0"/>
</material>
</visual>
<collision>
<origin xyz="0.0019798676587196480103 0.17299392534463217674 0.1058011664695520937" rpy="7.2862725102355967692e-15 1.2184368382340626744e-14 3.0962140930379637993" />
<geometry>
<mesh filename="worm_gear_0_2m_20t___1mm_id.stl"/>
</geometry>
</collision>
<visual>
<origin xyz="0.0054798676587207960365 0.18249392534463138027 0.10945116646955198314" rpy="-1.5707963267948892305 5.7520989593074171204e-15 -3.1415926535897891192" />
<geometry>
<mesh filename="n20_right_angle_gearbox___output_shaft_bushing.stl"/>
</geometry>
<material name="n20_right_angle_gearbox_-_output_shaft_bushing_material">
<color rgba="0.94901960784313721398 0.76078431372549015776 0.18039215686274509554 1.0"/>
</material>
</visual>
<collision>
<origin xyz="0.0054798676587207960365 0.18249392534463138027 0.10945116646955198314" rpy="-1.5707963267948892305 5.7520989593074171204e-15 -3.1415926535897891192" />
<geometry>
<mesh filename="n20_right_angle_gearbox___output_shaft_bushing.stl"/>
</geometry>
</collision>
<visual>
<origin xyz="0.005479867658721514212 0.17774392534463070992 0.10602616646955211055" rpy="-3.0568618248828831503e-15 9.0951763350453124454e-15 1.8587756533739629994" />
<geometry>
<mesh filename="gear_0_2m_9t___20_degree_pressure_angle.stl"/>
</geometry>
<material name="gear_0.2m_9t_-_20_degree_pressure_angle_material">
<color rgba="0.64705882352941179736 0.61960784313725492112 0.58823529411764707842 1.0"/>
</material>
</visual>
<collision>
<origin xyz="0.005479867658721514212 0.17774392534463070992 0.10602616646955211055" rpy="-3.0568618248828831503e-15 9.0951763350453124454e-15 1.8587756533739629994" />
<geometry>
<mesh filename="gear_0_2m_9t___20_degree_pressure_angle.stl"/>
</geometry>
</collision>
<visual>
<origin xyz="0.0012298676587213785982 0.18484392534463073288 0.10600116646955226596" rpy="-3.1415926535897891192 -1.570796326794896336 0" />
<geometry>
<mesh filename="n20_right_angle_gearbox___7_9mm_spacer.stl"/>
</geometry>
<material name="n20_right_angle_gearbox_-_7.9mm_spacer_material">
<color rgba="0.94901960784313721398 0.76078431372549015776 0.18039215686274509554 1.0"/>
</material>
</visual>
<collision>
<origin xyz="0.0012298676587213785982 0.18484392534463073288 0.10600116646955226596" rpy="-3.1415926535897891192 -1.570796326794896336 0" />
<geometry>
<mesh filename="n20_right_angle_gearbox___7_9mm_spacer.stl"/>
</geometry>
</collision>
<visual>
<origin xyz="0.0054798676587211915534 0.18249392534463085291 0.10545116646955227102" rpy="-3.1415926535897873428 -7.3553731353444644696e-15 -1.5707963267948950037" />
<geometry>
<mesh filename="gear_0_3m_21t___20_degree_pressure_angle.stl"/>
</geometry>
<material name="gear_0.3m_21t_-_20_degree_pressure_angle_material">
<color rgba="0.65098039215686276382 0.61960784313725492112 0.58823529411764707842 1.0"/>
</material>
</visual>
<collision>
<origin xyz="0.0054798676587211915534 0.18249392534463085291 0.10545116646955227102" rpy="-3.1415926535897873428 -7.3553731353444644696e-15 -1.5707963267948950037" />
<geometry>
<mesh filename="gear_0_3m_21t___20_degree_pressure_angle.stl"/>
</geometry>
</collision>
<visual>
<origin xyz="0.0054798676587199598997 0.1699939253446320353 0.10171991646955211297" rpy="-3.1415926535897860106 1.2532227004000859015e-14 -3.1415926535897829019" />
<geometry>
<mesh filename="m1_6_x_2_5mm_lg_flat_head_screws_jis.stl"/>
</geometry>
<material name="m1.6_x_2.5mm_lg_flat_head_screws_jis_material">
<color rgba="0.75294117647058822484 0.75294117647058822484 0.75294117647058822484 1.0"/>
</material>
</visual>
<collision>
<origin xyz="0.0054798676587199598997 0.1699939253446320353 0.10171991646955211297" rpy="-3.1415926535897860106 1.2532227004000859015e-14 -3.1415926535897829019" />
<geometry>
<mesh filename="m1_6_x_2_5mm_lg_flat_head_screws_jis.stl"/>
</geometry>
</collision>
<visual>
<origin xyz="0.0093708398690923386254 0.17049392534463217452 0.10327667839688485507" rpy="-1.5707963267949045516 -0.39309481042651722715 5.9506582369846366436e-15" />
<geometry>
<mesh filename="m1_4_x_3mm_lg_pan_head_screws_jis.stl"/>
</geometry>
<material name="m1.4_x_3mm_lg_pan_head_screws_jis_material">
<color rgba="0.75294117647058822484 0.75294117647058822484 0.75294117647058822484 1.0"/>
</material>
</visual>
<collision>
<origin xyz="0.0093708398690923386254 0.17049392534463217452 0.10327667839688485507" rpy="-1.5707963267949045516 -0.39309481042651722715 5.9506582369846366436e-15" />
<geometry>
<mesh filename="m1_4_x_3mm_lg_pan_head_screws_jis.stl"/>
</geometry>
</collision>
<visual>
<origin xyz="0.0054798676587209937949 0.18249392534463121374 0.11095116646955203998" rpy="-1.5707963267948907848 -7.3553731353444644696e-15 -1.5707963267948950037" />
<geometry>
<mesh filename="n20_right_angle_gearbox___bottom_plate.stl"/>
</geometry>
<material name="n20_right_angle_gearbox_-_bottom_plate_material">
<color rgba="0.94901960784313721398 0.76078431372549015776 0.18039215686274509554 1.0"/>
</material>
</visual>
<collision>
<origin xyz="0.0054798676587209937949 0.18249392534463121374 0.11095116646955203998" rpy="-1.5707963267948907848 -7.3553731353444644696e-15 -1.5707963267948950037" />
<geometry>
<mesh filename="n20_right_angle_gearbox___bottom_plate.stl"/>
</geometry>
</collision>
<visual>
<origin xyz="0.0054798676587208376698 0.18249392534463132476 0.10995116646955198358" rpy="1.570796326794886788 -1.0177275389977990804e-15 0.57870963485806559135" />
<geometry>
<mesh filename="n20_right_angle_gearbox___bottom_plate_bushing.stl"/>
</geometry>
<material name="n20_right_angle_gearbox_-_bottom_plate_bushing_material">
<color rgba="0.94901960784313721398 0.76078431372549015776 0.18039215686274509554 1.0"/>
</material>
</visual>
<collision>
<origin xyz="0.0054798676587208376698 0.18249392534463132476 0.10995116646955198358" rpy="1.570796326794886788 -1.0177275389977990804e-15 0.57870963485806559135" />
<geometry>
<mesh filename="n20_right_angle_gearbox___bottom_plate_bushing.stl"/>
</geometry>
</collision>
<visual>
<origin xyz="0.0054798676587211325728 0.18249392534463107496 0.10205116646955217363" rpy="-1.5707963267948845676 -7.3553731353444644696e-15 -1.5707963267948950037" />
<geometry>
<mesh filename="n20_right_angle_gearbox___top_plate.stl"/>
</geometry>
<material name="n20_right_angle_gearbox_-_top_plate_material">
<color rgba="0.94901960784313721398 0.76078431372549015776 0.18039215686274509554 1.0"/>
</material>
</visual>
<collision>
<origin xyz="0.0054798676587211325728 0.18249392534463107496 0.10205116646955217363" rpy="-1.5707963267948845676 -7.3553731353444644696e-15 -1.5707963267948950037" />
<geometry>
<mesh filename="n20_right_angle_gearbox___top_plate.stl"/>
</geometry>
</collision>
<visual>
<origin xyz="0.0025393441290550607115 0.17624615320859574052 0.10602616646955183299" rpy="-7.6811376384968670026e-15 -1.2528265675053373085e-14 4.4011241033325776677e-15" />
<geometry>
<mesh filename="gear_0_2m_10t___20_degree_pressure_angle.stl"/>
</geometry>
<material name="gear_0.2m_10t_-_20_degree_pressure_angle_material">
<color rgba="0.64705882352941179736 0.61960784313725492112 0.58823529411764707842 1.0"/>
</material>
</visual>
<collision>
<origin xyz="0.0025393441290550607115 0.17624615320859574052 0.10602616646955183299" rpy="-7.6811376384968670026e-15 -1.2528265675053373085e-14 4.4011241033325776677e-15" />
<geometry>
<mesh filename="gear_0_2m_10t___20_degree_pressure_angle.stl"/>
</geometry>
</collision>
<visual>
<origin xyz="0.0015888954483470468793 0.17049392534463220228 0.1087256545422197046" rpy="-1.5707963267949045516 -0.39309481042651722715 5.9506582369846366436e-15" />
<geometry>
<mesh filename="m1_4_x_3mm_lg_pan_head_screws_jis.stl"/>
</geometry>
<material name="m1.4_x_3mm_lg_pan_head_screws_jis_material">
<color rgba="0.75294117647058822484 0.75294117647058822484 0.75294117647058822484 1.0"/>
</material>
</visual>
<collision>
<origin xyz="0.0015888954483470468793 0.17049392534463220228 0.1087256545422197046" rpy="-1.5707963267949045516 -0.39309481042651722715 5.9506582369846366436e-15" />
<geometry>
<mesh filename="m1_4_x_3mm_lg_pan_head_screws_jis.stl"/>
</geometry>
</collision>
<visual>
<origin xyz="0.0054798676587211325728 0.18249392534463107496 0.10205116646955217363" rpy="-1.5707963267948892305 5.7520989593074171204e-15 -3.1415926535897891192" />
<geometry>
<mesh filename="n20_right_angle_gearbox___top_plate_bushing.stl"/>
</geometry>
<material name="n20_right_angle_gearbox_-_top_plate_bushing_material">
<color rgba="0.94901960784313721398 0.76078431372549015776 0.18039215686274509554 1.0"/>
</material>
</visual>
<collision>
<origin xyz="0.0054798676587211325728 0.18249392534463107496 0.10205116646955217363" rpy="-1.5707963267948892305 5.7520989593074171204e-15 -3.1415926535897891192" />
<geometry>
<mesh filename="n20_right_angle_gearbox___top_plate_bushing.stl"/>
</geometry>
</collision>
<visual>
<origin xyz="0.0019798676587199082189 0.17299392534463212123 0.10602616646955220769" rpy="-5.8801448946649834347e-15 9.2373648302535980761e-15 1.6580627893946036089" />
<geometry>
<mesh filename="gear_0_2m_9t___20_degree_pressure_angle.stl"/>
</geometry>
<material name="gear_0.2m_9t_-_20_degree_pressure_angle_material">
<color rgba="0.64705882352941179736 0.61960784313725492112 0.58823529411764707842 1.0"/>
</material>
</visual>
<collision>
<origin xyz="0.0019798676587199082189 0.17299392534463212123 0.10602616646955220769" rpy="-5.8801448946649834347e-15 9.2373648302535980761e-15 1.6580627893946036089" />
<geometry>
<mesh filename="gear_0_2m_9t___20_degree_pressure_angle.stl"/>
</geometry>
</collision>
<visual>
<origin xyz="0.0054798676587212956368 0.17774392534463095972 0.10555116646955209347" rpy="-3.1415926535897860106 5.7520989593074171204e-15 -3.1415926535897891192" />
<geometry>
<mesh filename="gear_0_3m_10t___20_degree_pressure_angle.stl"/>
</geometry>
<material name="gear_0.3m_10t_-_20_degree_pressure_angle_material">
<color rgba="0.65098039215686276382 0.61960784313725492112 0.58823529411764707842 1.0"/>
</material>
</visual>
<collision>
<origin xyz="0.0054798676587212956368 0.17774392534463095972 0.10555116646955209347" rpy="-3.1415926535897860106 5.7520989593074171204e-15 -3.1415926535897891192" />
<geometry>
<mesh filename="gear_0_3m_10t___20_degree_pressure_angle.stl"/>
</geometry>
</collision>
<visual>
<origin xyz="0.0054798676587214344147 0.16999392534463364512 -0.042282416347304653537" rpy="3.1415926535897864547 -3.1977039185919349137e-15 4.1021105318926893329e-15" />
<geometry>
<mesh filename="m1_6_x_2_5mm_lg_flat_head_screws_jis.stl"/>
</geometry>
<material name="m1.6_x_2.5mm_lg_flat_head_screws_jis_material">
<color rgba="0.75294117647058822484 0.75294117647058822484 0.75294117647058822484 1.0"/>
</material>
</visual>
<collision>
<origin xyz="0.0054798676587214344147 0.16999392534463364512 -0.042282416347304653537" rpy="3.1415926535897864547 -3.1977039185919349137e-15 4.1021105318926893329e-15" />
<geometry>
<mesh filename="m1_6_x_2_5mm_lg_flat_head_screws_jis.stl"/>
</geometry>
</collision>
<visual>
<origin xyz="0.0054798676587200154109 0.17049392534463322924 -0.038001166347302391124" rpy="-1.1344640137960644299 2.810058244986196424e-13 -1.5707963267949047736" />
<geometry>
<mesh filename="worm_0_2m_x_3_25mm_od_x_1mm_id.stl"/>
</geometry>
<material name="worm_0.2m_x_3.25mm_od_x_1mm_id_material">
<color rgba="0.94901960784313721398 0.76078431372549015776 0.18039215686274509554 1.0"/>
</material>
</visual>
<collision>
<origin xyz="0.0054798676587200154109 0.17049392534463322924 -0.038001166347302391124" rpy="-1.1344640137960644299 2.810058244986196424e-13 -1.5707963267949047736" />
<geometry>
<mesh filename="worm_0_2m_x_3_25mm_od_x_1mm_id.stl"/>
</geometry>
</collision>
<visual>
<origin xyz="0.0012298676587211496147 0.18484392534463675584 -0.038001166347298429016" rpy="5.3816391142369215349e-14 1.5707963267947064878 0" />
<geometry>
<mesh filename="n20_right_angle_gearbox___7_9mm_spacer.stl"/>
</geometry>
<material name="n20_right_angle_gearbox_-_7.9mm_spacer_material">
<color rgba="0.94901960784313721398 0.76078431372549015776 0.18039215686274509554 1.0"/>
</material>
</visual>
<collision>
<origin xyz="0.0012298676587211496147 0.18484392534463675584 -0.038001166347298429016" rpy="5.3816391142369215349e-14 1.5707963267947064878 0" />
<geometry>
<mesh filename="n20_right_angle_gearbox___7_9mm_spacer.stl"/>
</geometry>
</collision>
<visual>
<origin xyz="0.0054798676587201958221 0.18249392534463582116 -0.033201166347296105774" rpy="1.570796326794836828 1.5707963267944655694 0" />
<geometry>
<mesh filename="n20_right_angle_gearbox___output_shaft.stl"/>
</geometry>
<material name="n20_right_angle_gearbox_-_output_shaft_material">
<color rgba="0.79607843137254896693 0.82352941176470584317 0.9372549019607843146 1.0"/>
</material>
</visual>
<collision>
<origin xyz="0.0054798676587201958221 0.18249392534463582116 -0.033201166347296105774" rpy="1.570796326794836828 1.5707963267944655694 0" />
<geometry>
<mesh filename="n20_right_angle_gearbox___output_shaft.stl"/>
</geometry>
</collision>
<visual>
<origin xyz="0.0054798676587198280608 0.16849392534463225601 -0.038001166347302911541" rpy="-6.0943975775996952854e-15 -3.9031349713873403614e-15 4.3359466973095547624e-15" />
<geometry>
<mesh filename="n20_dc_motor_face_adaptor.stl"/>
</geometry>
<material name="n20_dc_motor_face_adaptor_material">
<color rgba="0.79607843137254896693 0.82352941176470584317 0.9372549019607843146 1.0"/>
</material>
</visual>
<collision>
<origin xyz="0.0054798676587198280608 0.16849392534463225601 -0.038001166347302911541" rpy="-6.0943975775996952854e-15 -3.9031349713873403614e-15 4.3359466973095547624e-15" />
<geometry>
<mesh filename="n20_dc_motor_face_adaptor.stl"/>
</geometry>
</collision>
<visual>
<origin xyz="0.0084203911883883649642 0.17624615320859865486 -0.041251166347301318482" rpy="3.1415926535893534677 -3.3204749426809541929e-13 1.5707963267949107689" />
<geometry>
<mesh filename="gear_0_2m_23t___20_degree_pressure_angle.stl"/>
</geometry>
<material name="gear_0.2m_23t_-_20_degree_pressure_angle_material">
<color rgba="0.64705882352941179736 0.61960784313725492112 0.58823529411764707842 1.0"/>
</material>
</visual>
<collision>
<origin xyz="0.0084203911883883649642 0.17624615320859865486 -0.041251166347301318482" rpy="3.1415926535893534677 -3.3204749426809541929e-13 1.5707963267949107689" />
<geometry>
<mesh filename="gear_0_2m_23t___20_degree_pressure_angle.stl"/>
</geometry>
</collision>
<visual>
<origin xyz="0.0089798676587226448909 0.17299392534463273186 -0.037801166347300727" rpy="3.1415926535897766847 -1.0041262337200948516e-14 0.045378560551839336457" />
<geometry>
<mesh filename="worm_gear_0_2m_20t___1mm_id.stl"/>
</geometry>
<material name="worm_gear_0.2m_20t_-_1mm_id_material">
<color rgba="0.94901960784313721398 0.76078431372549015776 0.18039215686274509554 1.0"/>
</material>
</visual>
<collision>
<origin xyz="0.0089798676587226448909 0.17299392534463273186 -0.037801166347300727" rpy="3.1415926535897766847 -1.0041262337200948516e-14 0.045378560551839336457" />
<geometry>
<mesh filename="worm_gear_0_2m_20t___1mm_id.stl"/>
</geometry>
</collision>
<visual>
<origin xyz="0.00547986765872265566 0.18249392534463743099 -0.041451166347300616444" rpy="1.5707963267952169684 -2.2809678878192923382e-13 8.1885974261788676709e-14" />
<geometry>
<mesh filename="n20_right_angle_gearbox___output_shaft_bushing.stl"/>
</geometry>
<material name="n20_right_angle_gearbox_-_output_shaft_bushing_material">
<color rgba="0.94901960784313721398 0.76078431372549015776 0.18039215686274509554 1.0"/>
</material>
</visual>
<collision>
<origin xyz="0.00547986765872265566 0.18249392534463743099 -0.041451166347300616444" rpy="1.5707963267952169684 -2.2809678878192923382e-13 8.1885974261788676709e-14" />
<geometry>
<mesh filename="n20_right_angle_gearbox___output_shaft_bushing.stl"/>
</geometry>
</collision>
<visual>
<origin xyz="0.0054798676587219548317 0.17774392534463440141 -0.03802616634730000833" rpy="3.1415926535894622695 -3.9104428383152478541e-13 1.2828170002158243435" />
<geometry>
<mesh filename="gear_0_2m_9t___20_degree_pressure_angle.stl"/>
</geometry>
<material name="gear_0.2m_9t_-_20_degree_pressure_angle_material">
<color rgba="0.64705882352941179736 0.61960784313725492112 0.58823529411764707842 1.0"/>
</material>
</visual>
<collision>
<origin xyz="0.0054798676587219548317 0.17774392534463440141 -0.03802616634730000833" rpy="3.1415926535894622695 -3.9104428383152478541e-13 1.2828170002158243435" />
<geometry>
<mesh filename="gear_0_2m_9t___20_degree_pressure_angle.stl"/>
</geometry>
</collision>
<visual>
<origin xyz="0.0097298676587234955715 0.18484392534463761626 -0.038001166347297180015" rpy="-3.1415926535897278349 1.5707963267947144814 0" />
<geometry>
<mesh filename="n20_right_angle_gearbox___7_9mm_spacer.stl"/>
</geometry>
<material name="n20_right_angle_gearbox_-_7.9mm_spacer_material">
<color rgba="0.94901960784313721398 0.76078431372549015776 0.18039215686274509554 1.0"/>
</material>
</visual>
<collision>
<origin xyz="0.0097298676587234955715 0.18484392534463761626 -0.038001166347297180015" rpy="-3.1415926535897278349 1.5707963267947144814 0" />
<geometry>
<mesh filename="n20_right_angle_gearbox___7_9mm_spacer.stl"/>
</geometry>
</collision>
<visual>
<origin xyz="0.0054798676587222948375 0.18249392534463604321 -0.037451166347298149584" rpy="2.495756171458840364e-14 2.145527857874566084e-13 -1.5707963267949345276" />
<geometry>
<mesh filename="gear_0_3m_21t___20_degree_pressure_angle.stl"/>
</geometry>
<material name="gear_0.3m_21t_-_20_degree_pressure_angle_material">
<color rgba="0.65098039215686276382 0.61960784313725492112 0.58823529411764707842 1.0"/>
</material>
</visual>
<collision>
<origin xyz="0.0054798676587222948375 0.18249392534463604321 -0.037451166347298149584" rpy="2.495756171458840364e-14 2.145527857874566084e-13 -1.5707963267949345276" />
<geometry>
<mesh filename="gear_0_3m_21t___20_degree_pressure_angle.stl"/>
</geometry>
</collision>
<visual>
<origin xyz="0.0054798676587185859987 0.16999392534463220183 -0.033719916347300406267" rpy="-7.1406309346547732281e-15 -9.2275171399778214011e-15 -3.0962498073469241127e-15" />
<geometry>
<mesh filename="m1_6_x_2_5mm_lg_flat_head_screws_jis.stl"/>
</geometry>
<material name="m1.6_x_2.5mm_lg_flat_head_screws_jis_material">
<color rgba="0.75294117647058822484 0.75294117647058822484 0.75294117647058822484 1.0"/>
</material>
</visual>
<collision>
<origin xyz="0.0054798676587185859987 0.16999392534463220183 -0.033719916347300406267" rpy="-7.1406309346547732281e-15 -9.2275171399778214011e-15 -3.0962498073469241127e-15" />
<geometry>
<mesh filename="m1_6_x_2_5mm_lg_flat_head_screws_jis.stl"/>
</geometry>
</collision>
<visual>
<origin xyz="0.0015888954483454717503 0.17049392534463220228 -0.035276678274634036547" rpy="1.5707963267945943553 0.39309481042678168228 3.1415926535897522598" />
<geometry>
<mesh filename="m1_4_x_3mm_lg_pan_head_screws_jis.stl"/>
</geometry>
<material name="m1.4_x_3mm_lg_pan_head_screws_jis_material">
<color rgba="0.75294117647058822484 0.75294117647058822484 0.75294117647058822484 1.0"/>
</material>
</visual>
<collision>
<origin xyz="0.0015888954483454717503 0.17049392534463220228 -0.035276678274634036547" rpy="1.5707963267945943553 0.39309481042678168228 3.1415926535897522598" />
<geometry>
<mesh filename="m1_4_x_3mm_lg_pan_head_screws_jis.stl"/>
</geometry>
</collision>
<visual>
<origin xyz="0.005479867658723377305 0.18249392534463762527 -0.042951166347301207582" rpy="1.5707963267951028374 2.669749319334784199e-13 -1.5707963267949112129" />
<geometry>
<mesh filename="n20_right_angle_gearbox___bottom_plate.stl"/>
</geometry>
<material name="n20_right_angle_gearbox_-_bottom_plate_material">
<color rgba="0.94901960784313721398 0.76078431372549015776 0.18039215686274509554 1.0"/>
</material>
</visual>
<collision>
<origin xyz="0.005479867658723377305 0.18249392534463762527 -0.042951166347301207582" rpy="1.5707963267951028374 2.669749319334784199e-13 -1.5707963267949112129" />
<geometry>
<mesh filename="n20_right_angle_gearbox___bottom_plate.stl"/>
</geometry>
</collision>
<visual>
<origin xyz="0.0054798676587229089296 0.18249392534463745874 -0.041951166347300845871" rpy="-1.5707963267952644859 2.1707990136782913528e-14 2.5628830187317714895" />
<geometry>
<mesh filename="n20_right_angle_gearbox___bottom_plate_bushing.stl"/>
</geometry>
<material name="n20_right_angle_gearbox_-_bottom_plate_bushing_material">
<color rgba="0.94901960784313721398 0.76078431372549015776 0.18039215686274509554 1.0"/>
</material>
</visual>
<collision>
<origin xyz="0.0054798676587229089296 0.18249392534463745874 -0.041951166347300845871" rpy="-1.5707963267952644859 2.1707990136782913528e-14 2.5628830187317714895" />
<geometry>
<mesh filename="n20_right_angle_gearbox___bottom_plate_bushing.stl"/>
</geometry>
</collision>
<visual>
<origin xyz="0.0054798676587204560307 0.18249392534463582116 -0.034051166347296608905" rpy="1.5707963267951092767 2.6707339152484763207e-13 -1.570796326794911657" />
<geometry>
<mesh filename="n20_right_angle_gearbox___top_plate.stl"/>
</geometry>
<material name="n20_right_angle_gearbox_-_top_plate_material">
<color rgba="0.94901960784313721398 0.76078431372549015776 0.18039215686274509554 1.0"/>
</material>
</visual>
<collision>
<origin xyz="0.0054798676587204560307 0.18249392534463582116 -0.034051166347296608905" rpy="1.5707963267951092767 2.6707339152484763207e-13 -1.570796326794911657" />
<geometry>
<mesh filename="n20_right_angle_gearbox___top_plate.stl"/>
</geometry>
</collision>
<visual>
<origin xyz="0.0084203911883876745442 0.17624615320859776668 -0.038026166347299994452" rpy="3.1415926535891447458 4.6179572229093933509e-13 -3.1415926535896314675" />
<geometry>
<mesh filename="gear_0_2m_10t___20_degree_pressure_angle.stl"/>
</geometry>
<material name="gear_0.2m_10t_-_20_degree_pressure_angle_material">
<color rgba="0.64705882352941179736 0.61960784313725492112 0.58823529411764707842 1.0"/>
</material>
</visual>
<collision>
<origin xyz="0.0084203911883876745442 0.17624615320859776668 -0.038026166347299994452" rpy="3.1415926535891447458 4.6179572229093933509e-13 -3.1415926535896314675" />
<geometry>
<mesh filename="gear_0_2m_10t___20_degree_pressure_angle.stl"/>
</geometry>
</collision>
<visual>
<origin xyz="0.0093708398690946596854 0.17049392534463364557 -0.040725654419970558351" rpy="1.5707963267945943553 0.39309481042678168228 3.1415926535897522598" />
<geometry>
<mesh filename="m1_4_x_3mm_lg_pan_head_screws_jis.stl"/>
</geometry>
<material name="m1.4_x_3mm_lg_pan_head_screws_jis_material">
<color rgba="0.75294117647058822484 0.75294117647058822484 0.75294117647058822484 1.0"/>
</material>
</visual>
<collision>
<origin xyz="0.0093708398690946596854 0.17049392534463364557 -0.040725654419970558351" rpy="1.5707963267945943553 0.39309481042678168228 3.1415926535897522598" />
<geometry>
<mesh filename="m1_4_x_3mm_lg_pan_head_screws_jis.stl"/>
</geometry>
</collision>
<visual>
<origin xyz="0.005479867658720598278 0.18249392534463582116 -0.034051166347296525638" rpy="1.5707963267952169684 -2.2809678878192923382e-13 8.1885974261788676709e-14" />
<geometry>
<mesh filename="n20_right_angle_gearbox___top_plate_bushing.stl"/>
</geometry>
<material name="n20_right_angle_gearbox_-_top_plate_bushing_material">
<color rgba="0.94901960784313721398 0.76078431372549015776 0.18039215686274509554 1.0"/>
</material>
</visual>
<collision>
<origin xyz="0.005479867658720598278 0.18249392534463582116 -0.034051166347296525638" rpy="1.5707963267952169684 -2.2809678878192923382e-13 8.1885974261788676709e-14" />
<geometry>
<mesh filename="n20_right_angle_gearbox___top_plate_bushing.stl"/>
</geometry>
</collision>
<visual>
<origin xyz="0.0089798676587227038715 0.17299392534463292614 -0.038026166347300785486" rpy="3.1415926535893912153 -3.5284135055105068048e-13 1.4835298641952012755" />
<geometry>
<mesh filename="gear_0_2m_9t___20_degree_pressure_angle.stl"/>
</geometry>
<material name="gear_0.2m_9t_-_20_degree_pressure_angle_material">
<color rgba="0.64705882352941179736 0.61960784313725492112 0.58823529411764707842 1.0"/>
</material>
</visual>
<collision>
<origin xyz="0.0089798676587227038715 0.17299392534463292614 -0.038026166347300785486" rpy="3.1415926535893912153 -3.5284135055105068048e-13 1.4835298641952012755" />
<geometry>
<mesh filename="gear_0_2m_9t___20_degree_pressure_angle.stl"/>
</geometry>
</collision>
<visual>
<origin xyz="0.0054798676587218576872 0.17774392534463420712 -0.037551166347299734516" rpy="-6.0943975775996952854e-15 -3.9031349713873403614e-15 4.3359466973095547624e-15" />
<geometry>
<mesh filename="gear_0_3m_10t___20_degree_pressure_angle.stl"/>
</geometry>
<material name="gear_0.3m_10t_-_20_degree_pressure_angle_material">
<color rgba="0.65098039215686276382 0.61960784313725492112 0.58823529411764707842 1.0"/>
</material>
</visual>
<collision>
<origin xyz="0.0054798676587218576872 0.17774392534463420712 -0.037551166347299734516" rpy="-6.0943975775996952854e-15 -3.9031349713873403614e-15 4.3359466973095547624e-15" />
<geometry>
<mesh filename="gear_0_3m_10t___20_degree_pressure_angle.stl"/>
</geometry>
</collision>
<visual>
<origin xyz="-0.050080219938809296398 0.086000000000000020872 0.053000000000000123401" rpy="-1.5707963267948932273 -1.570796326794896558 0" />
<geometry>
<mesh filename="camlens1.stl"/>
</geometry>
<material name="camlens1_material">
<color rgba="0.10196078431372548878 0.10196078431372548878 0.10196078431372548878 1.0"/>
</material>
</visual>
<collision>
<origin xyz="-0.050080219938809296398 0.086000000000000020872 0.053000000000000123401" rpy="-1.5707963267948932273 -1.570796326794896558 0" />
<geometry>
<mesh filename="camlens1.stl"/>
</geometry>
</collision>
<visual>
<origin xyz="-0.050080219938809282521 0.08600000000000003475 0.05300000000000013034" rpy="-1.5707963267948932273 -1.570796326794896558 0" />
<geometry>
<mesh filename="camlens2.stl"/>
</geometry>
<material name="camlens2_material">
<color rgba="0.10196078431372548878 0.10196078431372548878 0.10196078431372548878 1.0"/>
</material>
</visual>
<collision>
<origin xyz="-0.050080219938809282521 0.08600000000000003475 0.05300000000000013034" rpy="-1.5707963267948932273 -1.570796326794896558 0" />
<geometry>
<mesh filename="camlens2.stl"/>
</geometry>
</collision>
<visual>
<origin xyz="-0.049999999999999995837 0.085999999999999993117 0.05300000000000013034" rpy="-1.5707963267948978903 -1.570796326794896558 0" />
<geometry>
<mesh filename="camplate.stl"/>
</geometry>
<material name="camplate_material">
<color rgba="0.28627450980392155078 0.6627450980392156632 0.32941176470588234837 1.0"/>
</material>
</visual>
<collision>
<origin xyz="-0.049999999999999995837 0.085999999999999993117 0.05300000000000013034" rpy="-1.5707963267948978903 -1.570796326794896558 0" />
<geometry>
<mesh filename="camplate.stl"/>
</geometry>
</collision>
<visual>
<origin xyz="0.0054798676587198939802 0.16849392534463222826 0.10600116646955225208" rpy="-1.5707963267948892305 5.7520989593074171204e-15 -3.1415926535897891192" />
<geometry>
<mesh filename="n20_micro_dc_motor_new.stl"/>
</geometry>
<material name="n20_micro_dc_motor_new_material">
<color rgba="0.79607843137254896693 0.82352941176470584317 0.9372549019607843146 1.0"/>
</material>
</visual>
<collision>
<origin xyz="0.0054798676587198939802 0.16849392534463222826 0.10600116646955225208" rpy="-1.5707963267948892305 5.7520989593074171204e-15 -3.1415926535897891192" />
<geometry>
<mesh filename="n20_micro_dc_motor_new.stl"/>
</geometry>
</collision>
<visual>
<origin xyz="0.0054798676587198939802 0.16849392534463222826 0.10600116646955225208" rpy="-1.5707963267948892305 5.7520989593074171204e-15 -3.1415926535897891192" />
<geometry>
<mesh filename="n20_micro_dc_motor_new.stl"/>
</geometry>
<material name="n20_micro_dc_motor_new_material">
<color rgba="0.79607843137254896693 0.82352941176470584317 0.9372549019607843146 1.0"/>
</material>
</visual>
<collision>
<origin xyz="0.0054798676587198939802 0.16849392534463222826 0.10600116646955225208" rpy="-1.5707963267948892305 5.7520989593074171204e-15 -3.1415926535897891192" />
<geometry>
<mesh filename="n20_micro_dc_motor_new.stl"/>
</geometry>
</collision>
<visual>
<origin xyz="0.0054798676587198280608 0.16849392534463225601 -0.038001166347302911541" rpy="1.5707963267952169684 -2.2809678878192923382e-13 8.1885974261788676709e-14" />
<geometry>
<mesh filename="n20_micro_dc_motor_new.stl"/>
</geometry>
<material name="n20_micro_dc_motor_new_material">
<color rgba="0.79607843137254896693 0.82352941176470584317 0.9372549019607843146 1.0"/>
</material>
</visual>
<collision>
<origin xyz="0.0054798676587198280608 0.16849392534463225601 -0.038001166347302911541" rpy="1.5707963267952169684 -2.2809678878192923382e-13 8.1885974261788676709e-14" />
<geometry>
<mesh filename="n20_micro_dc_motor_new.stl"/>
</geometry>
</collision>
<visual>
<origin xyz="0.0054798676587198280608 0.16849392534463225601 -0.038001166347302911541" rpy="1.5707963267952169684 -2.2809678878192923382e-13 8.1885974261788676709e-14" />
<geometry>
<mesh filename="n20_micro_dc_motor_new.stl"/>
</geometry>
<material name="n20_micro_dc_motor_new_material">
<color rgba="0.79607843137254896693 0.82352941176470584317 0.9372549019607843146 1.0"/>
</material>
</visual>
<collision>
<origin xyz="0.0054798676587198280608 0.16849392534463225601 -0.038001166347302911541" rpy="1.5707963267952169684 -2.2809678878192923382e-13 8.1885974261788676709e-14" />
<geometry>
<mesh filename="n20_micro_dc_motor_new.stl"/>
</geometry>
</collision>
<inertial>
<origin xyz="0.005085856980584245457 0.11834848900695177365 0.035596599532522109344" rpy="0 0 0"/>
<mass value="0.7832896272045117847" />
<inertia ixx="0.004337095516143367642" ixy="-0.00019176639861268353067"  ixz="1.0187098774005899e-05" iyy="0.001457614232405061213" iyz="-0.00016115563417140100523" izz="0.0032335631134260845593" />
</inertial>
</link>

<link name="endsegment">
<visual>
<origin xyz="-0.030460134687331066883 0.20100544914242501893 0.052484428173626467007" rpy="3.1644774865949537453e-16 -9.4565654674904980013e-17 1.5707963267948952257" />
<geometry>
<mesh filename="clawcap1.stl"/>
</geometry>
<material name="clawcap1_material">
<color rgba="0.62352941176470588758 0.66666666666666662966 0.70196078431372543882 1.0"/>
</material>
</visual>
<collision>
<origin xyz="-0.030460134687331066883 0.20100544914242501893 0.052484428173626467007" rpy="3.1644774865949537453e-16 -9.4565654674904980013e-17 1.5707963267948952257" />
<geometry>
<mesh filename="clawcap1.stl"/>
</geometry>
</collision>
<visual>
<origin xyz="-0.030460134687331108516 0.20098443771408289193 0.015494541317118342566" rpy="-1.57079632679489678 1.5707963267948961139 0" />
<geometry>
<mesh filename="clawcap1.stl"/>
</geometry>
<material name="clawcap1_material">
<color rgba="0.62352941176470588758 0.66666666666666662966 0.70196078431372543882 1.0"/>
</material>
</visual>
<collision>
<origin xyz="-0.030460134687331108516 0.20098443771408289193 0.015494541317118342566" rpy="-1.57079632679489678 1.5707963267948961139 0" />
<geometry>
<mesh filename="clawcap1.stl"/>
</geometry>
</collision>
<visual>
<origin xyz="-0.022460134687331032022 0.20850000000000001865 0.052499990459543531551" rpy="1.57079632679489678 1.5707963267948954478 0" />
<geometry>
<mesh filename="clawcap2.stl"/>
</geometry>
<material name="clawcap2_material">
<color rgba="0.70196078431372543882 0.70196078431372543882 0.70196078431372543882 1.0"/>
</material>
</visual>
<collision>
<origin xyz="-0.022460134687331032022 0.20850000000000001865 0.052499990459543531551" rpy="1.57079632679489678 1.5707963267948954478 0" />
<geometry>
<mesh filename="clawcap2.stl"/>
</geometry>
</collision>
<visual>
<origin xyz="-0.0030001346873310824614 0.2010000000000000675 0.052499990459543371957" rpy="-1.570796326794896558 1.5707963267948954478 0" />
<geometry>
<mesh filename="servobasescrewb.stl"/>
</geometry>
<material name="servobasescrewb_material">
<color rgba="0.10196078431372548878 0.10196078431372548878 0.10196078431372548878 1.0"/>
</material>
</visual>
<collision>
<origin xyz="-0.0030001346873310824614 0.2010000000000000675 0.052499990459543371957" rpy="-1.570796326794896558 1.5707963267948954478 0" />
<geometry>
<mesh filename="servobasescrewb.stl"/>
</geometry>
</collision>
<visual>
<origin xyz="-0.0030001346873310824614 0.2010000000000000675 0.052499990459543371957" rpy="-1.570796326794896558 1.5707963267948954478 0" />
<geometry>
<mesh filename="servobasescrewa.stl"/>
</geometry>
<material name="servobasescrewa_material">
<color rgba="0.10196078431372548878 0.10196078431372548878 0.10196078431372548878 1.0"/>
</material>
</visual>
<collision>
<origin xyz="-0.0030001346873310824614 0.2010000000000000675 0.052499990459543371957" rpy="-1.570796326794896558 1.5707963267948954478 0" />
<geometry>
<mesh filename="servobasescrewa.stl"/>
</geometry>
</collision>
<visual>
<origin xyz="-0.0030001346873310824614 0.2010000000000000675 0.052499990459543371957" rpy="-1.570796326794896558 1.5707963267948954478 0" />
<geometry>
<mesh filename="servobody.stl"/>
</geometry>
<material name="servobody_material">
<color rgba="0.72941176470588231506 0.25098039215686274161 0.10588235294117646912 1.0"/>
</material>
</visual>
<collision>
<origin xyz="-0.0030001346873310824614 0.2010000000000000675 0.052499990459543371957" rpy="-1.570796326794896558 1.5707963267948954478 0" />
<geometry>
<mesh filename="servobody.stl"/>
</geometry>
</collision>
<visual>
<origin xyz="-0.0030001346873310824614 0.2010000000000000675 0.052499990459543371957" rpy="-1.570796326794896558 1.5707963267948954478 0" />
<geometry>
<mesh filename="servobodycap.stl"/>
</geometry>
<material name="servobodycap_material">
<color rgba="0.10196078431372548878 0.10196078431372548878 0.10196078431372548878 1.0"/>
</material>
</visual>
<collision>
<origin xyz="-0.0030001346873310824614 0.2010000000000000675 0.052499990459543371957" rpy="-1.570796326794896558 1.5707963267948954478 0" />
<geometry>
<mesh filename="servobodycap.stl"/>
</geometry>
</collision>
<visual>
<origin xyz="-0.0030001346873310824614 0.2010000000000000675 0.052499990459543371957" rpy="-1.570796326794896558 1.5707963267948954478 0" />
<geometry>
<mesh filename="servobasescrewd.stl"/>
</geometry>
<material name="servobasescrewd_material">
<color rgba="0.10196078431372548878 0.10196078431372548878 0.10196078431372548878 1.0"/>
</material>
</visual>
<collision>
<origin xyz="-0.0030001346873310824614 0.2010000000000000675 0.052499990459543371957" rpy="-1.570796326794896558 1.5707963267948954478 0" />
<geometry>
<mesh filename="servobasescrewd.stl"/>
</geometry>
</collision>
<visual>
<origin xyz="-0.0030001346873310824614 0.2010000000000000675 0.052499990459543371957" rpy="-1.570796326794896558 1.5707963267948954478 0" />
<geometry>
<mesh filename="servosocket.stl"/>
</geometry>
<material name="servosocket_material">
<color rgba="0.29803921568627450567 0.29803921568627450567 0.29803921568627450567 1.0"/>
</material>
</visual>
<collision>
<origin xyz="-0.0030001346873310824614 0.2010000000000000675 0.052499990459543371957" rpy="-1.570796326794896558 1.5707963267948954478 0" />
<geometry>
<mesh filename="servosocket.stl"/>
</geometry>
</collision>
<visual>
<origin xyz="0.024499865312668817063 0.0939999999999997643 0.085999990459543235177" rpy="-1.5707963267948954478 -1.5707963267948961139 0" />
<geometry>
<mesh filename="motormountrightsmall.stl"/>
</geometry>
<material name="motormountrightsmall_material">
<color rgba="0.81176470588235294379 0.85882352941176465233 0.89803921568627453897 1.0"/>
</material>
</visual>
<collision>
<origin xyz="0.024499865312668817063 0.0939999999999997643 0.085999990459543235177" rpy="-1.5707963267948954478 -1.5707963267948961139 0" />
<geometry>
<mesh filename="motormountrightsmall.stl"/>
</geometry>
</collision>
<visual>
<origin xyz="-0.0030001346873310824614 0.2010000000000000675 0.052499990459543371957" rpy="-1.570796326794896558 1.5707963267948954478 0" />
<geometry>
<mesh filename="servobodyhidden.stl"/>
</geometry>
<material name="servobodyhidden_material">
<color rgba="0.64705882352941179736 0.51764705882352946009 0 1.0"/>
</material>
</visual>
<collision>
<origin xyz="-0.0030001346873310824614 0.2010000000000000675 0.052499990459543371957" rpy="-1.570796326794896558 1.5707963267948954478 0" />
<geometry>
<mesh filename="servobodyhidden.stl"/>
</geometry>
</collision>
<visual>
<origin xyz="0.0054798653126718263606 0.1824939253446402343 -0.046451175948882983402" rpy="-2.5628830187318034639 1.5707963267945339592 0" />
<geometry>
<mesh filename="screwhub_v0_1_3mm.stl"/>
</geometry>
<material name="screwhub_v0.1_3mm_material">
<color rgba="0.97254901960784312376 0.52941176470588235947 0.0039215686274509803377 1.0"/>
</material>
</visual>
<collision>
<origin xyz="0.0054798653126718263606 0.1824939253446402343 -0.046451175948882983402" rpy="-2.5628830187318034639 1.5707963267945339592 0" />
<geometry>
<mesh filename="screwhub_v0_1_3mm.stl"/>
</geometry>
</collision>
<visual>
<origin xyz="-0.0030001346873310824614 0.2010000000000000675 0.052499990459543371957" rpy="-1.570796326794896558 1.5707963267948954478 0" />
<geometry>
<mesh filename="servobasescrewc.stl"/>
</geometry>
<material name="servobasescrewc_material">
<color rgba="0.10196078431372548878 0.10196078431372548878 0.10196078431372548878 1.0"/>
</material>
</visual>
<collision>
<origin xyz="-0.0030001346873310824614 0.2010000000000000675 0.052499990459543371957" rpy="-1.570796326794896558 1.5707963267948954478 0" />
<geometry>
<mesh filename="servobasescrewc.stl"/>
</geometry>
</collision>
<visual>
<origin xyz="0.0054798653126721455497 0.18249392534463257376 0.11445115686797270593" rpy="0.57870963485787751956 -1.5707963267948723551 0" />
<geometry>
<mesh filename="screwhub_v0_1_3mm.stl"/>
</geometry>
<material name="screwhub_v0.1_3mm_material">
<color rgba="0.97254901960784312376 0.52941176470588235947 0.0039215686274509803377 1.0"/>
</material>
</visual>
<collision>
<origin xyz="0.0054798653126721455497 0.18249392534463257376 0.11445115686797270593" rpy="0.57870963485787751956 -1.5707963267948723551 0" />
<geometry>
<mesh filename="screwhub_v0_1_3mm.stl"/>
</geometry>
</collision>
<visual>
<origin xyz="-0.0030001346873310824614 0.2010000000000000675 0.052499990459543371957" rpy="-1.570796326794896558 1.5707963267948954478 0" />
<geometry>
<mesh filename="servogearbase.stl"/>
</geometry>
<material name="servogearbase_material">
<color rgba="0.29803921568627450567 0.29803921568627450567 0.29803921568627450567 1.0"/>
</material>
</visual>
<collision>
<origin xyz="-0.0030001346873310824614 0.2010000000000000675 0.052499990459543371957" rpy="-1.570796326794896558 1.5707963267948954478 0" />
<geometry>
<mesh filename="servogearbase.stl"/>
</geometry>
</collision>
<visual>
<origin xyz="-0.0030001346873310824614 0.2010000000000000675 0.052499990459543371957" rpy="-1.570796326794896558 1.5707963267948954478 0" />
<geometry>
<mesh filename="servobase.stl"/>
</geometry>
<material name="servobase_material">
<color rgba="0.10196078431372548878 0.10196078431372548878 0.10196078431372548878 1.0"/>
</material>
</visual>
<collision>
<origin xyz="-0.0030001346873310824614 0.2010000000000000675 0.052499990459543371957" rpy="-1.570796326794896558 1.5707963267948954478 0" />
<geometry>
<mesh filename="servobase.stl"/>
</geometry>
</collision>
<visual>
<origin xyz="0.029499865312669029671 0.0939999999999998892 -0.046000009540456951451" rpy="-1.5707963267948954478 -1.5707963267948961139 0" />
<geometry>
<mesh filename="platebase3_1.stl"/>
</geometry>
<material name="platebase3(1)_material">
<color rgba="0.62352941176470588758 0.66666666666666662966 0.70196078431372543882 1.0"/>
</material>
</visual>
<collision>
<origin xyz="0.029499865312669029671 0.0939999999999998892 -0.046000009540456951451" rpy="-1.5707963267948954478 -1.5707963267948961139 0" />
<geometry>
<mesh filename="platebase3_1.stl"/>
</geometry>
</collision>
<visual>
<origin xyz="-0.0030001346873310824614 0.2010000000000000675 0.052499990459543371957" rpy="-1.570796326794896558 1.5707963267948954478 0" />
<geometry>
<mesh filename="servogear.stl"/>
</geometry>
<material name="servogear_material">
<color rgba="0.82745098039215680963 0.66666666666666662966 0.12941176470588236502 1.0"/>
</material>
</visual>
<collision>
<origin xyz="-0.0030001346873310824614 0.2010000000000000675 0.052499990459543371957" rpy="-1.570796326794896558 1.5707963267948954478 0" />
<geometry>
<mesh filename="servogear.stl"/>
</geometry>
</collision>
<visual>
<origin xyz="0.024499865312668699102 0.094000000000000097367 -0.046000009540457222068" rpy="-1.5707963267948954478 -1.5707963267948961139 0" />
<geometry>
<mesh filename="motormountleftsmall.stl"/>
</geometry>
<material name="motormountleftsmall_material">
<color rgba="0.81176470588235294379 0.85882352941176465233 0.89803921568627453897 1.0"/>
</material>
</visual>
<collision>
<origin xyz="0.024499865312668699102 0.094000000000000097367 -0.046000009540457222068" rpy="-1.5707963267948954478 -1.5707963267948961139 0" />
<geometry>
<mesh filename="motormountleftsmall.stl"/>
</geometry>
</collision>
<visual>
<origin xyz="0.029499865312669022732 0.093999999999999916955 -0.046000009540456979207" rpy="-1.570796326794896336 -1.5707963267948961139 0" />
<geometry>
<mesh filename="platebase3_2.stl"/>
</geometry>
<material name="platebase3(2)_material">
<color rgba="0.62352941176470588758 0.66666666666666662966 0.70196078431372543882 1.0"/>
</material>
</visual>
<collision>
<origin xyz="0.029499865312669022732 0.093999999999999916955 -0.046000009540456979207" rpy="-1.570796326794896336 -1.5707963267948961139 0" />
<geometry>
<mesh filename="platebase3_2.stl"/>
</geometry>
</collision>
<visual>
<origin xyz="-1.3877787807814456755e-17 -1.3877787807814456755e-17 0.081000000000000071942" rpy="1.57079632679489678 -8.5899654987876823593e-16 3.1415926535897926719" />
<geometry>
<mesh filename="liftaxle2.stl"/>
</geometry>
<material name="liftaxle2_material">
<color rgba="0.52941176470588235947 0.56862745098039213509 0.5999999999999999778 1.0"/>
</material>
</visual>
<collision>
<origin xyz="-1.3877787807814456755e-17 -1.3877787807814456755e-17 0.081000000000000071942" rpy="1.57079632679489678 -8.5899654987876823593e-16 3.1415926535897926719" />
<geometry>
<mesh filename="liftaxle2.stl"/>
</geometry>
</collision>
<visual>
<origin xyz="-1.3877787807814456755e-17 -6.9388939039072283776e-18 0.012000000000000118211" rpy="1.5707963267948972241 6.9042099880776246914e-16 -2.6363321122688491607e-16" />
<geometry>
<mesh filename="liftaxle3.stl"/>
</geometry>
<material name="liftaxle3_material">
<color rgba="0.52941176470588235947 0.56862745098039213509 0.5999999999999999778 1.0"/>
</material>
</visual>
<collision>
<origin xyz="-1.3877787807814456755e-17 -6.9388939039072283776e-18 0.012000000000000118211" rpy="1.5707963267948972241 6.9042099880776246914e-16 -2.6363321122688491607e-16" />
<geometry>
<mesh filename="liftaxle3.stl"/>
</geometry>
</collision>
<visual>
<origin xyz="0.013900000000000162226 0.060599999999999869249 -0.016500000000000038941" rpy="-1.5707963267948954478 -8.9414755836462960528e-16 1.570796326794896558" />
<geometry>
<mesh filename="lockpin.stl"/>
</geometry>
<material name="lockpin_material">
<color rgba="0.71372549019607844922 0.76078431372549015776 0.80000000000000004441 1.0"/>
</material>
</visual>
<collision>
<origin xyz="0.013900000000000162226 0.060599999999999869249 -0.016500000000000038941" rpy="-1.5707963267948954478 -8.9414755836462960528e-16 1.570796326794896558" />
<geometry>
<mesh filename="lockpin.stl"/>
</geometry>
</collision>
<visual>
<origin xyz="-0.014025000000000051315 0.060599999999999952516 0.084500000000000075051" rpy="1.5707963267948974462 5.1725981272322622064e-16 1.570796326794896558" />
<geometry>
<mesh filename="lockpin.stl"/>
</geometry>
<material name="lockpin_material">
<color rgba="0.71372549019607844922 0.76078431372549015776 0.80000000000000004441 1.0"/>
</material>
</visual>
<collision>
<origin xyz="-0.014025000000000051315 0.060599999999999952516 0.084500000000000075051" rpy="1.5707963267948974462 5.1725981272322622064e-16 1.570796326794896558" />
<geometry>
<mesh filename="lockpin.stl"/>
</geometry>
</collision>
<visual>
<origin xyz="-0.017500000000000404121 0.049999999999999954203 0.091000000000000053069" rpy="-1.570796326794896558 9.5430232698323883653e-16 -3.43824693316092854e-16" />
<geometry>
<mesh filename="lockcap.stl"/>
</geometry>
<material name="lockcap_material">
<color rgba="0.5999999999999999778 0.5803921568627451455 0.52941176470588235947 1.0"/>
</material>
</visual>
<collision>
<origin xyz="-0.017500000000000404121 0.049999999999999954203 0.091000000000000053069" rpy="-1.570796326794896558 9.5430232698323883653e-16 -3.43824693316092854e-16" />
<geometry>
<mesh filename="lockcap.stl"/>
</geometry>
</collision>
<visual>
<origin xyz="-1.3877787807814456755e-17 -6.9388939039072283776e-18 0.007000000000000089484" rpy="-3.1415926535897904515 -1.5707963267948961139 0" />
<geometry>
<mesh filename="liftaxle4.stl"/>
</geometry>
<material name="liftaxle4_material">
<color rgba="0.52941176470588235947 0.56862745098039213509 0.5999999999999999778 1.0"/>
</material>
</visual>
<collision>
<origin xyz="-1.3877787807814456755e-17 -6.9388939039072283776e-18 0.007000000000000089484" rpy="-3.1415926535897904515 -1.5707963267948961139 0" />
<geometry>
<mesh filename="liftaxle4.stl"/>
</geometry>
</collision>
<visual>
<origin xyz="0.017500000000000327793 0.049999999999999961142 -0.023000000000000013489" rpy="1.5707963267948954478 -1.3542669845917705609e-15 3.141592653589793116" />
<geometry>
<mesh filename="lockcap.stl"/>
</geometry>
<material name="lockcap_material">
<color rgba="0.5999999999999999778 0.5803921568627451455 0.52941176470588235947 1.0"/>
</material>
</visual>
<collision>
<origin xyz="0.017500000000000327793 0.049999999999999961142 -0.023000000000000013489" rpy="1.5707963267948954478 -1.3542669845917705609e-15 3.141592653589793116" />
<geometry>
<mesh filename="lockcap.stl"/>
</geometry>
</collision>
<visual>
<origin xyz="0.00089034134352665439405 0.00098204595548048723153 0.056999999999999897971" rpy="-1.5707963267948974462 -3.977323021711468501e-16 -1.5707963267948983344" />
<geometry>
<mesh filename="liftaxle1.stl"/>
</geometry>
<material name="liftaxle1_material">
<color rgba="0.52941176470588235947 0.56862745098039213509 0.5999999999999999778 1.0"/>
</material>
</visual>
<collision>
<origin xyz="0.00089034134352665439405 0.00098204595548048723153 0.056999999999999897971" rpy="-1.5707963267948974462 -3.977323021711468501e-16 -1.5707963267948983344" />
<geometry>
<mesh filename="liftaxle1.stl"/>
</geometry>
</collision>
<visual>
<origin xyz="0.017499999999999994726 -0.029999999999999985012 -0.0070000000000000036152" rpy="-1.570796326794896558 -1.570796326794896336 0" />
<geometry>
<mesh filename="liftarmbot2.stl"/>
</geometry>
<material name="liftarmbot2_material">
<color rgba="0.5999999999999999778 0.5803921568627451455 0.52941176470588235947 1.0"/>
</material>
</visual>
<collision>
<origin xyz="0.017499999999999994726 -0.029999999999999985012 -0.0070000000000000036152" rpy="-1.570796326794896558 -1.570796326794896336 0" />
<geometry>
<mesh filename="liftarmbot2.stl"/>
</geometry>
</collision>
<visual>
<origin xyz="-0.045682271946524299899 0.21548926532904269515 0.033999990459543341648" rpy="-1.7104226669544400075 -1.5707963267948961139 0" />
<geometry>
<mesh filename="camlens1.stl"/>
</geometry>
<material name="camlens1_material">
<color rgba="0.10196078431372548878 0.10196078431372548878 0.10196078431372548878 1.0"/>
</material>
</visual>
<collision>
<origin xyz="-0.045682271946524299899 0.21548926532904269515 0.033999990459543341648" rpy="-1.7104226669544400075 -1.5707963267948961139 0" />
<geometry>
<mesh filename="camlens1.stl"/>
</geometry>
</collision>
<visual>
<origin xyz="-0.045682271946524299899 0.21548926532904269515 0.033999990459543320831" rpy="-1.7104226669544388972 -1.5707963267948961139 0" />
<geometry>
<mesh filename="camlens2.stl"/>
</geometry>
<material name="camlens2_material">
<color rgba="0.10196078431372548878 0.10196078431372548878 0.10196078431372548878 1.0"/>
</material>
</visual>
<collision>
<origin xyz="-0.045682271946524299899 0.21548926532904269515 0.033999990459543320831" rpy="-1.7104226669544388972 -1.5707963267948961139 0" />
<geometry>
<mesh filename="camlens2.stl"/>
</geometry>
</collision>
<visual>
<origin xyz="-0.045602832702645049179 0.21547810087139976365 0.033999990459543355525" rpy="-1.7104226669544397854 -1.570796326794896336 0" />
<geometry>
<mesh filename="camplate.stl"/>
</geometry>
<material name="camplate_material">
<color rgba="0.28627450980392155078 0.6627450980392156632 0.32941176470588234837 1.0"/>
</material>
</visual>
<collision>
<origin xyz="-0.045602832702645049179 0.21547810087139976365 0.033999990459543355525" rpy="-1.7104226669544397854 -1.570796326794896336 0" />
<geometry>
<mesh filename="camplate.stl"/>
</geometry>
</collision>
<visual>
<origin xyz="0.0082998653126688387571 0.24165000000000774749 0.037449990459543294752" rpy="-1.570796326794896336 1.570796326794896336 0" />
<geometry>
<mesh filename="text_gnd.stl"/>
</geometry>
<material name="text_gnd_material">
<color rgba="0.59607843137254901134 0.12156862745098039047 0.6745098039215686736 1.0"/>
</material>
</visual>
<collision>
<origin xyz="0.0082998653126688387571 0.24165000000000774749 0.037449990459543294752" rpy="-1.570796326794896336 1.570796326794896336 0" />
<geometry>
<mesh filename="text_gnd.stl"/>
</geometry>
</collision>
<visual>
<origin xyz="0.0016998653126702456539 0.24005000000000872862 0.03569999045954334177" rpy="-1.570796326794896558 6.8912100478502981758e-17 3.141592653589793116" />
<geometry>
<mesh filename="c_0603_1608metric001.stl"/>
</geometry>
<material name="c_0603_1608metric001_material">
<color rgba="0.59607843137254901134 0.12156862745098039047 0.6745098039215686736 1.0"/>
</material>
</visual>
<collision>
<origin xyz="0.0016998653126702456539 0.24005000000000872862 0.03569999045954334177" rpy="-1.570796326794896558 6.8912100478502981758e-17 3.141592653589793116" />
<geometry>
<mesh filename="c_0603_1608metric001.stl"/>
</geometry>
</collision>
<visual>
<origin xyz="0.0057998653126702381932 0.24005000000000684124 0.031899990459543420274" rpy="1.570796326794896558 5.417105630653312296e-16 -2.5479209270789567581e-16" />
<geometry>
<mesh filename="sot_363_sc_70_6.stl"/>
</geometry>
<material name="sot_363_sc_70_6_material">
<color rgba="0.59607843137254901134 0.12156862745098039047 0.6745098039215686736 1.0"/>
</material>
</visual>
<collision>
<origin xyz="0.0057998653126702381932 0.24005000000000684124 0.031899990459543420274" rpy="1.570796326794896558 5.417105630653312296e-16 -2.5479209270789567581e-16" />
<geometry>
<mesh filename="sot_363_sc_70_6.stl"/>
</geometry>
</collision>
<visual>
<origin xyz="0.0082998653126704000083 0.24165000000000702585 0.03234999045954339153" rpy="-1.570796326794896336 1.570796326794896336 0" />
<geometry>
<mesh filename="text_sda.stl"/>
</geometry>
<material name="text_sda_material">
<color rgba="0.59607843137254901134 0.12156862745098039047 0.6745098039215686736 1.0"/>
</material>
</visual>
<collision>
<origin xyz="0.0082998653126704000083 0.24165000000000702585 0.03234999045954339153" rpy="-1.570796326794896336 1.570796326794896336 0" />
<geometry>
<mesh filename="text_sda.stl"/>
</geometry>
</collision>
<visual>
<origin xyz="0.0011498653126685021153 0.2416500000000085524 0.038149990459543176025" rpy="-1.57079632679489678 5.417105630653312296e-16 -2.5479209270789567581e-16" />
<geometry>
<mesh filename="text_vl53l0x_v2.stl"/>
</geometry>
<material name="text_vl53l0x-v2_material">
<color rgba="0.59607843137254901134 0.12156862745098039047 0.6745098039215686736 1.0"/>
</material>
</visual>
<collision>
<origin xyz="0.0011498653126685021153 0.2416500000000085524 0.038149990459543176025" rpy="-1.57079632679489678 5.417105630653312296e-16 -2.5479209270789567581e-16" />
<geometry>
<mesh filename="text_vl53l0x_v2.stl"/>
</geometry>
</collision>
<visual>
<origin xyz="0.0082998653126696367299 0.24165000000000863567 0.039899990459543267785" rpy="-1.570796326794896336 1.570796326794896336 0" />
<geometry>
<mesh filename="text_vin.stl"/>
</geometry>
<material name="text_vin_material">
<color rgba="0.59607843137254901134 0.12156862745098039047 0.6745098039215686736 1.0"/>
</material>
</visual>
<collision>
<origin xyz="0.0082998653126696367299 0.24165000000000863567 0.039899990459543267785" rpy="-1.570796326794896336 1.570796326794896336 0" />
<geometry>
<mesh filename="text_vin.stl"/>
</geometry>
</collision>
<visual>
<origin xyz="0.0082998653126719126871 0.24165000000000738667 0.029749990459543584204" rpy="-1.570796326794896336 1.570796326794896336 0" />
<geometry>
<mesh filename="text_gpio1.stl"/>
</geometry>
<material name="text_gpio1_material">
<color rgba="0.59607843137254901134 0.12156862745098039047 0.6745098039215686736 1.0"/>
</material>
</visual>
<collision>
<origin xyz="0.0082998653126719126871 0.24165000000000738667 0.029749990459543584204" rpy="-1.570796326794896336 1.570796326794896336 0" />
<geometry>
<mesh filename="text_gpio1.stl"/>
</geometry>
</collision>
<visual>
<origin xyz="0.008299865312669109374 0.24165000000000858016 0.027049990459543246657" rpy="-1.570796326794896336 1.570796326794896336 0" />
<geometry>
<mesh filename="text_xshut.stl"/>
</geometry>
<material name="text_xshut_material">
<color rgba="0.59607843137254901134 0.12156862745098039047 0.6745098039215686736 1.0"/>
</material>
</visual>
<collision>
<origin xyz="0.008299865312669109374 0.24165000000000858016 0.027049990459543246657" rpy="-1.570796326794896336 1.570796326794896336 0" />
<geometry>
<mesh filename="text_xshut.stl"/>
</geometry>
</collision>
<visual>
<origin xyz="0.0049998653126689662773 0.24165000000000813607 0.024299990459543296256" rpy="-1.570796326794896336 1.570796326794896336 0" />
<geometry>
<mesh filename="troufix01.stl"/>
</geometry>
<material name="troufix01_material">
<color rgba="0.59607843137254901134 0.12156862745098039047 0.6745098039215686736 1.0"/>
</material>
</visual>
<collision>
<origin xyz="0.0049998653126689662773 0.24165000000000813607 0.024299990459543296256" rpy="-1.570796326794896336 1.570796326794896336 0" />
<geometry>
<mesh filename="troufix01.stl"/>
</geometry>
</collision>
<visual>
<origin xyz="0.0049998653126705136507 0.24165000000000652625 0.043699990459543425203" rpy="-1.570796326794896336 1.570796326794896336 0" />
<geometry>
<mesh filename="troufix01.stl"/>
</geometry>
<material name="troufix01_material">
<color rgba="0.59607843137254901134 0.12156862745098039047 0.6745098039215686736 1.0"/>
</material>
</visual>
<collision>
<origin xyz="0.0049998653126705136507 0.24165000000000652625 0.043699990459543425203" rpy="-1.570796326794896336 1.570796326794896336 0" />
<geometry>
<mesh filename="troufix01.stl"/>
</geometry>
</collision>
<visual>
<origin xyz="0.0059498653126701869787 0.24005000000000847882 0.035149990459543367649" rpy="1.57079632679489678 1.570796326794896336 0" />
<geometry>
<mesh filename="r_array_convex_4x0603.stl"/>
</geometry>
<material name="r_array_convex_4x0603_material">
<color rgba="0.59607843137254901134 0.12156862745098039047 0.6745098039215686736 1.0"/>
</material>
</visual>
<collision>
<origin xyz="0.0059498653126701869787 0.24005000000000847882 0.035149990459543367649" rpy="1.57079632679489678 1.570796326794896336 0" />
<geometry>
<mesh filename="r_array_convex_4x0603.stl"/>
</geometry>
</collision>
<visual>
<origin xyz="0.0049998653126703956895 0.24165000000000799729 0.033999990459543369403" rpy="-1.570796326794896336 1.570796326794896336 0" />
<geometry>
<mesh filename="pcb_pink.stl"/>
</geometry>
<material name="pcb_pink_material">
<color rgba="0.59607843137254901134 0.12156862745098039047 0.6745098039215686736 1.0"/>
</material>
</visual>
<collision>
<origin xyz="0.0049998653126703956895 0.24165000000000799729 0.033999990459543369403" rpy="-1.570796326794896336 1.570796326794896336 0" />
<geometry>
<mesh filename="pcb_pink.stl"/>
</geometry>
</collision>
<visual>
<origin xyz="0.0082998653126704000083 0.24165000000000702585 0.03234999045954339153" rpy="-1.570796326794896336 1.570796326794896336 0" />
<geometry>
<mesh filename="text_sda.stl"/>
</geometry>
<material name="text_sda_material">
<color rgba="0.59607843137254901134 0.12156862745098039047 0.6745098039215686736 1.0"/>
</material>
</visual>
<collision>
<origin xyz="0.0082998653126704000083 0.24165000000000702585 0.03234999045954339153" rpy="-1.570796326794896336 1.570796326794896336 0" />
<geometry>
<mesh filename="text_sda.stl"/>
</geometry>
</collision>
<visual>
<origin xyz="0.0039498653126721627871 0.24005000000000725757 0.029449990459543551324" rpy="1.570796326794896558 5.417105630653312296e-16 -2.5479209270789567581e-16" />
<geometry>
<mesh filename="r_0603_1608metric001.stl"/>
</geometry>
<material name="r_0603_1608metric001_material">
<color rgba="0.59607843137254901134 0.12156862745098039047 0.6745098039215686736 1.0"/>
</material>
</visual>
<collision>
<origin xyz="0.0039498653126721627871 0.24005000000000725757 0.029449990459543551324" rpy="1.570796326794896558 5.417105630653312296e-16 -2.5479209270789567581e-16" />
<geometry>
<mesh filename="r_0603_1608metric001.stl"/>
</geometry>
</collision>
<visual>
<origin xyz="0.0082998653126688387571 0.24165000000000774749 0.037449990459543294752" rpy="-1.570796326794896336 1.570796326794896336 0" />
<geometry>
<mesh filename="text_gnd.stl"/>
</geometry>
<material name="text_gnd_material">
<color rgba="0.59607843137254901134 0.12156862745098039047 0.6745098039215686736 1.0"/>
</material>
</visual>
<collision>
<origin xyz="0.0082998653126688387571 0.24165000000000774749 0.037449990459543294752" rpy="-1.570796326794896336 1.570796326794896336 0" />
<geometry>
<mesh filename="text_gnd.stl"/>
</geometry>
</collision>
<visual>
<origin xyz="0.0062998653126685663639 0.24005000000000858984 0.038399990459543176247" rpy="1.57079632679489678 1.570796326794896336 0" />
<geometry>
<mesh filename="c_0603_1608metric.stl"/>
</geometry>
<material name="c_0603_1608metric_material">
<color rgba="0.59607843137254901134 0.12156862745098039047 0.6745098039215686736 1.0"/>
</material>
</visual>
<collision>
<origin xyz="0.0062998653126685663639 0.24005000000000858984 0.038399990459543176247" rpy="1.57079632679489678 1.570796326794896336 0" />
<geometry>
<mesh filename="c_0603_1608metric.stl"/>
</geometry>
</collision>
<visual>
<origin xyz="0.0011498653126685021153 0.2416500000000085524 0.038149990459543176025" rpy="-1.57079632679489678 5.417105630653312296e-16 -2.5479209270789567581e-16" />
<geometry>
<mesh filename="text_vl53l0x_v2.stl"/>
</geometry>
<material name="text_vl53l0x-v2_material">
<color rgba="0.59607843137254901134 0.12156862745098039047 0.6745098039215686736 1.0"/>
</material>
</visual>
<collision>
<origin xyz="0.0011498653126685021153 0.2416500000000085524 0.038149990459543176025" rpy="-1.57079632679489678 5.417105630653312296e-16 -2.5479209270789567581e-16" />
<geometry>
<mesh filename="text_vl53l0x_v2.stl"/>
</geometry>
</collision>
<visual>
<origin xyz="0.008299865312669109374 0.24165000000000858016 0.027049990459543246657" rpy="-1.570796326794896336 1.570796326794896336 0" />
<geometry>
<mesh filename="text_xshut.stl"/>
</geometry>
<material name="text_xshut_material">
<color rgba="0.59607843137254901134 0.12156862745098039047 0.6745098039215686736 1.0"/>
</material>
</visual>
<collision>
<origin xyz="0.008299865312669109374 0.24165000000000858016 0.027049990459543246657" rpy="-1.570796326794896336 1.570796326794896336 0" />
<geometry>
<mesh filename="text_xshut.stl"/>
</geometry>
</collision>
<visual>
<origin xyz="0.0038998653126717866546 0.24005000000000645266 0.027599990459543543436" rpy="1.570796326794896558 5.417105630653312296e-16 -2.5479209270789567581e-16" />
<geometry>
<mesh filename="r_0603_1608metric.stl"/>
</geometry>
<material name="r_0603_1608metric_material">
<color rgba="0.59607843137254901134 0.12156862745098039047 0.6745098039215686736 1.0"/>
</material>
</visual>
<collision>
<origin xyz="0.0038998653126717866546 0.24005000000000645266 0.027599990459543543436" rpy="1.570796326794896558 5.417105630653312296e-16 -2.5479209270789567581e-16" />
<geometry>
<mesh filename="r_0603_1608metric.stl"/>
</geometry>
</collision>
<visual>
<origin xyz="0.008299865312669109374 0.24165000000000858016 0.027049990459543246657" rpy="-1.570796326794896336 1.570796326794896336 0" />
<geometry>
<mesh filename="text_xshut.stl"/>
</geometry>
<material name="text_xshut_material">
<color rgba="0.59607843137254901134 0.12156862745098039047 0.6745098039215686736 1.0"/>
</material>
</visual>
<collision>
<origin xyz="0.008299865312669109374 0.24165000000000858016 0.027049990459543246657" rpy="-1.570796326794896336 1.570796326794896336 0" />
<geometry>
<mesh filename="text_xshut.stl"/>
</geometry>
</collision>
<visual>
<origin xyz="0.0082998653126719126871 0.24165000000000738667 0.029749990459543584204" rpy="-1.570796326794896336 1.570796326794896336 0" />
<geometry>
<mesh filename="text_gpio1.stl"/>
</geometry>
<material name="text_gpio1_material">
<color rgba="0.59607843137254901134 0.12156862745098039047 0.6745098039215686736 1.0"/>
</material>
</visual>
<collision>
<origin xyz="0.0082998653126719126871 0.24165000000000738667 0.029749990459543584204" rpy="-1.570796326794896336 1.570796326794896336 0" />
<geometry>
<mesh filename="text_gpio1.stl"/>
</geometry>
</collision>
<visual>
<origin xyz="0.0082998653126719126871 0.24165000000000738667 0.029749990459543584204" rpy="-1.570796326794896336 1.570796326794896336 0" />
<geometry>
<mesh filename="text_gpio1.stl"/>
</geometry>
<material name="text_gpio1_material">
<color rgba="0.59607843137254901134 0.12156862745098039047 0.6745098039215686736 1.0"/>
</material>
</visual>
<collision>
<origin xyz="0.0082998653126719126871 0.24165000000000738667 0.029749990459543584204" rpy="-1.570796326794896336 1.570796326794896336 0" />
<geometry>
<mesh filename="text_gpio1.stl"/>
</geometry>
</collision>
<visual>
<origin xyz="0.0011498653126685021153 0.2416500000000085524 0.038149990459543176025" rpy="-1.57079632679489678 5.417105630653312296e-16 -2.5479209270789567581e-16" />
<geometry>
<mesh filename="text_vl53l0x_v2.stl"/>
</geometry>
<material name="text_vl53l0x-v2_material">
<color rgba="0.59607843137254901134 0.12156862745098039047 0.6745098039215686736 1.0"/>
</material>
</visual>
<collision>
<origin xyz="0.0011498653126685021153 0.2416500000000085524 0.038149990459543176025" rpy="-1.57079632679489678 5.417105630653312296e-16 -2.5479209270789567581e-16" />
<geometry>
<mesh filename="text_vl53l0x_v2.stl"/>
</geometry>
</collision>
<visual>
<origin xyz="0.0082998653126702473526 0.24165000000000835811 0.034849990459543352117" rpy="-1.570796326794896336 1.570796326794896336 0" />
<geometry>
<mesh filename="text_scl.stl"/>
</geometry>
<material name="text_scl_material">
<color rgba="0.59607843137254901134 0.12156862745098039047 0.6745098039215686736 1.0"/>
</material>
</visual>
<collision>
<origin xyz="0.0082998653126702473526 0.24165000000000835811 0.034849990459543352117" rpy="-1.570796326794896336 1.570796326794896336 0" />
<geometry>
<mesh filename="text_scl.stl"/>
</geometry>
</collision>
<visual>
<origin xyz="0.008299865312669109374 0.24165000000000858016 0.027049990459543246657" rpy="-1.570796326794896336 1.570796326794896336 0" />
<geometry>
<mesh filename="text_xshut.stl"/>
</geometry>
<material name="text_xshut_material">
<color rgba="0.59607843137254901134 0.12156862745098039047 0.6745098039215686736 1.0"/>
</material>
</visual>
<collision>
<origin xyz="0.008299865312669109374 0.24165000000000858016 0.027049990459543246657" rpy="-1.570796326794896336 1.570796326794896336 0" />
<geometry>
<mesh filename="text_xshut.stl"/>
</geometry>
</collision>
<visual>
<origin xyz="0.006399865312670810491 0.24165000000000660951 0.031749990459543422916" rpy="-1.570796326794896336 1.570796326794896336 0" />
<geometry>
<mesh filename="vl53l0x.stl"/>
</geometry>
<material name="vl53l0x_material">
<color rgba="0.59607843137254901134 0.12156862745098039047 0.6745098039215686736 1.0"/>
</material>
</visual>
<collision>
<origin xyz="0.006399865312670810491 0.24165000000000660951 0.031749990459543422916" rpy="-1.570796326794896336 1.570796326794896336 0" />
<geometry>
<mesh filename="vl53l0x.stl"/>
</geometry>
</collision>
<visual>
<origin xyz="0.0082998653126696367299 0.24165000000000863567 0.039899990459543267785" rpy="-1.570796326794896336 1.570796326794896336 0" />
<geometry>
<mesh filename="text_vin.stl"/>
</geometry>
<material name="text_vin_material">
<color rgba="0.59607843137254901134 0.12156862745098039047 0.6745098039215686736 1.0"/>
</material>
</visual>
<collision>
<origin xyz="0.0082998653126696367299 0.24165000000000863567 0.039899990459543267785" rpy="-1.570796326794896336 1.570796326794896336 0" />
<geometry>
<mesh filename="text_vin.stl"/>
</geometry>
</collision>
<visual>
<origin xyz="0.0011498653126685021153 0.2416500000000085524 0.038149990459543176025" rpy="-1.57079632679489678 5.417105630653312296e-16 -2.5479209270789567581e-16" />
<geometry>
<mesh filename="text_vl53l0x_v2.stl"/>
</geometry>
<material name="text_vl53l0x-v2_material">
<color rgba="0.59607843137254901134 0.12156862745098039047 0.6745098039215686736 1.0"/>
</material>
</visual>
<collision>
<origin xyz="0.0011498653126685021153 0.2416500000000085524 0.038149990459543176025" rpy="-1.57079632679489678 5.417105630653312296e-16 -2.5479209270789567581e-16" />
<geometry>
<mesh filename="text_vl53l0x_v2.stl"/>
</geometry>
</collision>
<visual>
<origin xyz="0.0082998653126704000083 0.24165000000000702585 0.03234999045954339153" rpy="-1.570796326794896336 1.570796326794896336 0" />
<geometry>
<mesh filename="text_sda.stl"/>
</geometry>
<material name="text_sda_material">
<color rgba="0.59607843137254901134 0.12156862745098039047 0.6745098039215686736 1.0"/>
</material>
</visual>
<collision>
<origin xyz="0.0082998653126704000083 0.24165000000000702585 0.03234999045954339153" rpy="-1.570796326794896336 1.570796326794896336 0" />
<geometry>
<mesh filename="text_sda.stl"/>
</geometry>
</collision>
<visual>
<origin xyz="0.0082998653126719126871 0.24165000000000738667 0.029749990459543584204" rpy="-1.570796326794896336 1.570796326794896336 0" />
<geometry>
<mesh filename="text_gpio1.stl"/>
</geometry>
<material name="text_gpio1_material">
<color rgba="0.59607843137254901134 0.12156862745098039047 0.6745098039215686736 1.0"/>
</material>
</visual>
<collision>
<origin xyz="0.0082998653126719126871 0.24165000000000738667 0.029749990459543584204" rpy="-1.570796326794896336 1.570796326794896336 0" />
<geometry>
<mesh filename="text_gpio1.stl"/>
</geometry>
</collision>
<visual>
<origin xyz="0.0082998653126688387571 0.24165000000000774749 0.037449990459543294752" rpy="-1.570796326794896336 1.570796326794896336 0" />
<geometry>
<mesh filename="text_gnd.stl"/>
</geometry>
<material name="text_gnd_material">
<color rgba="0.59607843137254901134 0.12156862745098039047 0.6745098039215686736 1.0"/>
</material>
</visual>
<collision>
<origin xyz="0.0082998653126688387571 0.24165000000000774749 0.037449990459543294752" rpy="-1.570796326794896336 1.570796326794896336 0" />
<geometry>
<mesh filename="text_gnd.stl"/>
</geometry>
</collision>
<visual>
<origin xyz="0.0082998653126702473526 0.24165000000000835811 0.034849990459543352117" rpy="-1.570796326794896336 1.570796326794896336 0" />
<geometry>
<mesh filename="text_scl.stl"/>
</geometry>
<material name="text_scl_material">
<color rgba="0.59607843137254901134 0.12156862745098039047 0.6745098039215686736 1.0"/>
</material>
</visual>
<collision>
<origin xyz="0.0082998653126702473526 0.24165000000000835811 0.034849990459543352117" rpy="-1.570796326794896336 1.570796326794896336 0" />
<geometry>
<mesh filename="text_scl.stl"/>
</geometry>
</collision>
<visual>
<origin xyz="0.008299865312669109374 0.24165000000000858016 0.027049990459543246657" rpy="-1.570796326794896336 1.570796326794896336 0" />
<geometry>
<mesh filename="text_xshut.stl"/>
</geometry>
<material name="text_xshut_material">
<color rgba="0.59607843137254901134 0.12156862745098039047 0.6745098039215686736 1.0"/>
</material>
</visual>
<collision>
<origin xyz="0.008299865312669109374 0.24165000000000858016 0.027049990459543246657" rpy="-1.570796326794896336 1.570796326794896336 0" />
<geometry>
<mesh filename="text_xshut.stl"/>
</geometry>
</collision>
<visual>
<origin xyz="0.0082998653126696367299 0.24165000000000863567 0.039899990459543267785" rpy="-1.570796326794896336 1.570796326794896336 0" />
<geometry>
<mesh filename="text_vin.stl"/>
</geometry>
<material name="text_vin_material">
<color rgba="0.59607843137254901134 0.12156862745098039047 0.6745098039215686736 1.0"/>
</material>
</visual>
<collision>
<origin xyz="0.0082998653126696367299 0.24165000000000863567 0.039899990459543267785" rpy="-1.570796326794896336 1.570796326794896336 0" />
<geometry>
<mesh filename="text_vin.stl"/>
</geometry>
</collision>
<visual>
<origin xyz="0.0011498653126685021153 0.2416500000000085524 0.038149990459543176025" rpy="-1.57079632679489678 5.417105630653312296e-16 -2.5479209270789567581e-16" />
<geometry>
<mesh filename="text_vl53l0x_v2.stl"/>
</geometry>
<material name="text_vl53l0x-v2_material">
<color rgba="0.59607843137254901134 0.12156862745098039047 0.6745098039215686736 1.0"/>
</material>
</visual>
<collision>
<origin xyz="0.0011498653126685021153 0.2416500000000085524 0.038149990459543176025" rpy="-1.57079632679489678 5.417105630653312296e-16 -2.5479209270789567581e-16" />
<geometry>
<mesh filename="text_vl53l0x_v2.stl"/>
</geometry>
</collision>
<visual>
<origin xyz="0.0011498653126685021153 0.2416500000000085524 0.038149990459543176025" rpy="-1.57079632679489678 5.417105630653312296e-16 -2.5479209270789567581e-16" />
<geometry>
<mesh filename="text_vl53l0x_v2.stl"/>
</geometry>
<material name="text_vl53l0x-v2_material">
<color rgba="0.59607843137254901134 0.12156862745098039047 0.6745098039215686736 1.0"/>
</material>
</visual>
<collision>
<origin xyz="0.0011498653126685021153 0.2416500000000085524 0.038149990459543176025" rpy="-1.57079632679489678 5.417105630653312296e-16 -2.5479209270789567581e-16" />
<geometry>
<mesh filename="text_vl53l0x_v2.stl"/>
</geometry>
</collision>
<visual>
<origin xyz="0.0011498653126685021153 0.2416500000000085524 0.038149990459543176025" rpy="-1.57079632679489678 5.417105630653312296e-16 -2.5479209270789567581e-16" />
<geometry>
<mesh filename="text_vl53l0x_v2.stl"/>
</geometry>
<material name="text_vl53l0x-v2_material">
<color rgba="0.59607843137254901134 0.12156862745098039047 0.6745098039215686736 1.0"/>
</material>
</visual>
<collision>
<origin xyz="0.0011498653126685021153 0.2416500000000085524 0.038149990459543176025" rpy="-1.57079632679489678 5.417105630653312296e-16 -2.5479209270789567581e-16" />
<geometry>
<mesh filename="text_vl53l0x_v2.stl"/>
</geometry>
</collision>
<visual>
<origin xyz="0.0011498653126685021153 0.2416500000000085524 0.038149990459543176025" rpy="-1.57079632679489678 5.417105630653312296e-16 -2.5479209270789567581e-16" />
<geometry>
<mesh filename="text_vl53l0x_v2.stl"/>
</geometry>
<material name="text_vl53l0x-v2_material">
<color rgba="0.59607843137254901134 0.12156862745098039047 0.6745098039215686736 1.0"/>
</material>
</visual>
<collision>
<origin xyz="0.0011498653126685021153 0.2416500000000085524 0.038149990459543176025" rpy="-1.57079632679489678 5.417105630653312296e-16 -2.5479209270789567581e-16" />
<geometry>
<mesh filename="text_vl53l0x_v2.stl"/>
</geometry>
</collision>
<visual>
<origin xyz="0.001749865312670254025 0.24005000000000781268 0.033849990459543434496" rpy="-1.570796326794896558 6.8912100478502981758e-17 3.141592653589793116" />
<geometry>
<mesh filename="c_0603_1608metric002.stl"/>
</geometry>
<material name="c_0603_1608metric002_material">
<color rgba="0.59607843137254901134 0.12156862745098039047 0.6745098039215686736 1.0"/>
</material>
</visual>
<collision>
<origin xyz="0.001749865312670254025 0.24005000000000781268 0.033849990459543434496" rpy="-1.570796326794896558 6.8912100478502981758e-17 3.141592653589793116" />
<geometry>
<mesh filename="c_0603_1608metric002.stl"/>
</geometry>
</collision>
<visual>
<origin xyz="0.0011498653126685021153 0.2416500000000085524 0.038149990459543176025" rpy="-1.57079632679489678 5.417105630653312296e-16 -2.5479209270789567581e-16" />
<geometry>
<mesh filename="text_vl53l0x_v2.stl"/>
</geometry>
<material name="text_vl53l0x-v2_material">
<color rgba="0.59607843137254901134 0.12156862745098039047 0.6745098039215686736 1.0"/>
</material>
</visual>
<collision>
<origin xyz="0.0011498653126685021153 0.2416500000000085524 0.038149990459543176025" rpy="-1.57079632679489678 5.417105630653312296e-16 -2.5479209270789567581e-16" />
<geometry>
<mesh filename="text_vl53l0x_v2.stl"/>
</geometry>
</collision>
<visual>
<origin xyz="0.0037998653126685641435 0.24005000000000875637 0.038849990459543161381" rpy="1.570796326794896558 5.417105630653312296e-16 -2.5479209270789567581e-16" />
<geometry>
<mesh filename="sot_23.stl"/>
</geometry>
<material name="sot_23_material">
<color rgba="0.59607843137254901134 0.12156862745098039047 0.6745098039215686736 1.0"/>
</material>
</visual>
<collision>
<origin xyz="0.0037998653126685641435 0.24005000000000875637 0.038849990459543161381" rpy="1.570796326794896558 5.417105630653312296e-16 -2.5479209270789567581e-16" />
<geometry>
<mesh filename="sot_23.stl"/>
</geometry>
</collision>
<visual>
<origin xyz="0.0082998653126719126871 0.24165000000000738667 0.029749990459543584204" rpy="-1.570796326794896336 1.570796326794896336 0" />
<geometry>
<mesh filename="text_gpio1.stl"/>
</geometry>
<material name="text_gpio1_material">
<color rgba="0.59607843137254901134 0.12156862745098039047 0.6745098039215686736 1.0"/>
</material>
</visual>
<collision>
<origin xyz="0.0082998653126719126871 0.24165000000000738667 0.029749990459543584204" rpy="-1.570796326794896336 1.570796326794896336 0" />
<geometry>
<mesh filename="text_gpio1.stl"/>
</geometry>
</collision>
<visual>
<origin xyz="0.0082998653126702473526 0.24165000000000835811 0.034849990459543352117" rpy="-1.570796326794896336 1.570796326794896336 0" />
<geometry>
<mesh filename="text_scl.stl"/>
</geometry>
<material name="text_scl_material">
<color rgba="0.59607843137254901134 0.12156862745098039047 0.6745098039215686736 1.0"/>
</material>
</visual>
<collision>
<origin xyz="0.0082998653126702473526 0.24165000000000835811 0.034849990459543352117" rpy="-1.570796326794896336 1.570796326794896336 0" />
<geometry>
<mesh filename="text_scl.stl"/>
</geometry>
</collision>
<visual>
<origin xyz="0.0011498653126685021153 0.2416500000000085524 0.038149990459543176025" rpy="-1.57079632679489678 5.417105630653312296e-16 -2.5479209270789567581e-16" />
<geometry>
<mesh filename="text_vl53l0x_v2.stl"/>
</geometry>
<material name="text_vl53l0x-v2_material">
<color rgba="0.59607843137254901134 0.12156862745098039047 0.6745098039215686736 1.0"/>
</material>
</visual>
<collision>
<origin xyz="0.0011498653126685021153 0.2416500000000085524 0.038149990459543176025" rpy="-1.57079632679489678 5.417105630653312296e-16 -2.5479209270789567581e-16" />
<geometry>
<mesh filename="text_vl53l0x_v2.stl"/>
</geometry>
</collision>
<visual>
<origin xyz="0.0054798653126701887817 0.16999392534463136917 0.11028240686797299852" rpy="-2.6660201490740630084e-14 4.9463452729800700436e-15 3.1415926535895684069" />
<geometry>
<mesh filename="m1_6_x_2_5mm_lg_flat_head_screws_jis.stl"/>
</geometry>
<material name="m1.6_x_2.5mm_lg_flat_head_screws_jis_material">
<color rgba="0.75294117647058822484 0.75294117647058822484 0.75294117647058822484 1.0"/>
</material>
</visual>
<collision>
<origin xyz="0.0054798653126701887817 0.16999392534463136917 0.11028240686797299852" rpy="-2.6660201490740630084e-14 4.9463452729800700436e-15 3.1415926535895684069" />
<geometry>
<mesh filename="m1_6_x_2_5mm_lg_flat_head_screws_jis.stl"/>
</geometry>
</collision>
<visual>
<origin xyz="0.0054798653126691271309 0.17049392534463253535 0.10600115686797270675" rpy="2.0071286397934602341 1.5266827478997525897e-14 -1.5707963267950191266" />
<geometry>
<mesh filename="worm_0_2m_x_3_25mm_od_x_1mm_id.stl"/>
</geometry>
<material name="worm_0.2m_x_3.25mm_od_x_1mm_id_material">
<color rgba="0.94901960784313721398 0.76078431372549015776 0.18039215686274509554 1.0"/>
</material>
</visual>
<collision>
<origin xyz="0.0054798653126691271309 0.17049392534463253535 0.10600115686797270675" rpy="2.0071286397934602341 1.5266827478997525897e-14 -1.5707963267950191266" />
<geometry>
<mesh filename="worm_0_2m_x_3_25mm_od_x_1mm_id.stl"/>
</geometry>
</collision>
<visual>
<origin xyz="0.0097298653126711084904 0.18484392534463398028 0.10600115686797284553" rpy="-6.7792769035627994731e-14 -1.5707963267948741315 0" />
<geometry>
<mesh filename="n20_right_angle_gearbox___7_9mm_spacer.stl"/>
</geometry>
<material name="n20_right_angle_gearbox_-_7.9mm_spacer_material">
<color rgba="0.94901960784313721398 0.76078431372549015776 0.18039215686274509554 1.0"/>
</material>
</visual>
<collision>
<origin xyz="0.0097298653126711084904 0.18484392534463398028 0.10600115686797284553" rpy="-6.7792769035627994731e-14 -1.5707963267948741315 0" />
<geometry>
<mesh filename="n20_right_angle_gearbox___7_9mm_spacer.stl"/>
</geometry>
</collision>
<visual>
<origin xyz="0.0054798653126716945216 0.18249392534463301785 0.10120115686797269416" rpy="1.5707963267948281683 -1.5707963267948796826 0" />
<geometry>
<mesh filename="n20_right_angle_gearbox___output_shaft.stl"/>
</geometry>
<material name="n20_right_angle_gearbox_-_output_shaft_material">
<color rgba="0.79607843137254896693 0.82352941176470584317 0.9372549019607843146 1.0"/>
</material>
</visual>
<collision>
<origin xyz="0.0054798653126716945216 0.18249392534463301785 0.10120115686797269416" rpy="1.5707963267948281683 -1.5707963267948796826 0" />
<geometry>
<mesh filename="n20_right_angle_gearbox___output_shaft.stl"/>
</geometry>
</collision>
<visual>
<origin xyz="0.0054798653126689675363 0.16849392534463208948 0.10600115686797231818" rpy="3.1415926535897908956 -3.8358676157644418973e-15 -3.1415926535897922278" />
<geometry>
<mesh filename="n20_dc_motor_face_adaptor.stl"/>
</geometry>
<material name="n20_dc_motor_face_adaptor_material">
<color rgba="0.79607843137254896693 0.82352941176470584317 0.9372549019607843146 1.0"/>
</material>
</visual>
<collision>
<origin xyz="0.0054798653126689675363 0.16849392534463208948 0.10600115686797231818" rpy="3.1415926535897908956 -3.8358676157644418973e-15 -3.1415926535897922278" />
<geometry>
<mesh filename="n20_dc_motor_face_adaptor.stl"/>
</geometry>
</collision>
<visual>
<origin xyz="0.0025393417830048281569 0.17624615320859673973 0.10925115686797295944" rpy="-7.0198128570352243063e-15 -1.4464112946936482465e-14 1.5707963267947766539" />
<geometry>
<mesh filename="gear_0_2m_23t___20_degree_pressure_angle.stl"/>
</geometry>
<material name="gear_0.2m_23t_-_20_degree_pressure_angle_material">
<color rgba="0.64705882352941179736 0.61960784313725492112 0.58823529411764707842 1.0"/>
</material>
</visual>
<collision>
<origin xyz="0.0025393417830048281569 0.17624615320859673973 0.10925115686797295944" rpy="-7.0198128570352243063e-15 -1.4464112946936482465e-14 1.5707963267947766539" />
<geometry>
<mesh filename="gear_0_2m_23t___20_degree_pressure_angle.stl"/>
</geometry>
</collision>
<visual>
<origin xyz="0.0019798653126687354442 0.17299392534463314819 0.10580115686797243735" rpy="-2.7243612849063187084e-14 1.0056757122070869008e-14 3.0962140930377302084" />
<geometry>
<mesh filename="worm_gear_0_2m_20t___1mm_id.stl"/>
</geometry>
<material name="worm_gear_0.2m_20t_-_1mm_id_material">
<color rgba="0.94901960784313721398 0.76078431372549015776 0.18039215686274509554 1.0"/>
</material>
</visual>
<collision>
<origin xyz="0.0019798653126687354442 0.17299392534463314819 0.10580115686797243735" rpy="-2.7243612849063187084e-14 1.0056757122070869008e-14 3.0962140930377302084" />
<geometry>
<mesh filename="worm_gear_0_2m_20t___1mm_id.stl"/>
</geometry>
</collision>
<visual>
<origin xyz="0.0054798653126714585992 0.18249392534463293458 0.10945115686797256271" rpy="-1.5707963267949034414 -2.4457116383681098692e-14 -3.1415926535897926719" />
<geometry>
<mesh filename="n20_right_angle_gearbox___output_shaft_bushing.stl"/>
</geometry>
<material name="n20_right_angle_gearbox_-_output_shaft_bushing_material">
<color rgba="0.94901960784313721398 0.76078431372549015776 0.18039215686274509554 1.0"/>
</material>
</visual>
<collision>
<origin xyz="0.0054798653126714585992 0.18249392534463293458 0.10945115686797256271" rpy="-1.5707963267949034414 -2.4457116383681098692e-14 -3.1415926535897926719" />
<geometry>
<mesh filename="n20_right_angle_gearbox___output_shaft_bushing.stl"/>
</geometry>
</collision>
<visual>
<origin xyz="0.0054798653126698695925 0.17774392534463345772 0.10602615686797262073" rpy="-3.2792417053394252551e-15 -1.2472189759475847363e-14 1.8587756533738568621" />
<geometry>
<mesh filename="gear_0_2m_9t___20_degree_pressure_angle.stl"/>
</geometry>
<material name="gear_0.2m_9t_-_20_degree_pressure_angle_material">
<color rgba="0.64705882352941179736 0.61960784313725492112 0.58823529411764707842 1.0"/>
</material>
</visual>
<collision>
<origin xyz="0.0054798653126698695925 0.17774392534463345772 0.10602615686797262073" rpy="-3.2792417053394252551e-15 -1.2472189759475847363e-14 1.8587756533738568621" />
<geometry>
<mesh filename="gear_0_2m_9t___20_degree_pressure_angle.stl"/>
</geometry>
</collision>
<visual>
<origin xyz="0.0012298653126700115346 0.18484392534463486846 0.1060011568679724292" rpy="3.1415926535896296912 -1.570796326794866582 0" />
<geometry>
<mesh filename="n20_right_angle_gearbox___7_9mm_spacer.stl"/>
</geometry>
<material name="n20_right_angle_gearbox_-_7.9mm_spacer_material">
<color rgba="0.94901960784313721398 0.76078431372549015776 0.18039215686274509554 1.0"/>
</material>
</visual>
<collision>
<origin xyz="0.0012298653126700115346 0.18484392534463486846 0.1060011568679724292" rpy="3.1415926535896296912 -1.570796326794866582 0" />
<geometry>
<mesh filename="n20_right_angle_gearbox___7_9mm_spacer.stl"/>
</geometry>
</collision>
<visual>
<origin xyz="0.0054798653126703414373 0.18249392534463404481 0.10545115686797262855" rpy="-3.141592653589793116 1.4754231414186059309e-14 -1.5707963267950169062" />
<geometry>
<mesh filename="gear_0_3m_21t___20_degree_pressure_angle.stl"/>
</geometry>
<material name="gear_0.3m_21t_-_20_degree_pressure_angle_material">
<color rgba="0.65098039215686276382 0.61960784313725492112 0.58823529411764707842 1.0"/>
</material>
</visual>
<collision>
<origin xyz="0.0054798653126703414373 0.18249392534463404481 0.10545115686797262855" rpy="-3.141592653589793116 1.4754231414186059309e-14 -1.5707963267950169062" />
<geometry>
<mesh filename="gear_0_3m_21t___20_degree_pressure_angle.stl"/>
</geometry>
</collision>
<visual>
<origin xyz="0.0054798653126702581706 0.16999392534463139692 0.10171990686797276193" rpy="3.1415926535897904515 2.8339490483253070719e-15 -3.1415926535897855665" />
<geometry>
<mesh filename="m1_6_x_2_5mm_lg_flat_head_screws_jis.stl"/>
</geometry>
<material name="m1.6_x_2.5mm_lg_flat_head_screws_jis_material">
<color rgba="0.75294117647058822484 0.75294117647058822484 0.75294117647058822484 1.0"/>
</material>
</visual>
<collision>
<origin xyz="0.0054798653126702581706 0.16999392534463139692 0.10171990686797276193" rpy="3.1415926535897904515 2.8339490483253070719e-15 -3.1415926535897855665" />
<geometry>
<mesh filename="m1_6_x_2_5mm_lg_flat_head_screws_jis.stl"/>
</geometry>
</collision>
<visual>
<origin xyz="0.0093708375230429699632 0.17049392534463136961 0.10327666879530514321" rpy="-1.5707963267948739094 -0.39309481042651139848 -2.3118193063683049441e-13" />
<geometry>
<mesh filename="m1_4_x_3mm_lg_pan_head_screws_jis.stl"/>
</geometry>
<material name="m1.4_x_3mm_lg_pan_head_screws_jis_material">
<color rgba="0.75294117647058822484 0.75294117647058822484 0.75294117647058822484 1.0"/>
</material>
</visual>
<collision>
<origin xyz="0.0093708375230429699632 0.17049392534463136961 0.10327666879530514321" rpy="-1.5707963267948739094 -0.39309481042651139848 -2.3118193063683049441e-13" />
<geometry>
<mesh filename="m1_4_x_3mm_lg_pan_head_screws_jis.stl"/>
</geometry>
</collision>
<visual>
<origin xyz="0.0054798653126721524886 0.18249392534463246274 0.11095115686797278609" rpy="-1.5707963267949169861 1.5488284027870763605e-14 -1.5707963267950204589" />
<geometry>
<mesh filename="n20_right_angle_gearbox___bottom_plate.stl"/>
</geometry>
<material name="n20_right_angle_gearbox_-_bottom_plate_material">
<color rgba="0.94901960784313721398 0.76078431372549015776 0.18039215686274509554 1.0"/>
</material>
</visual>
<collision>
<origin xyz="0.0054798653126721524886 0.18249392534463246274 0.11095115686797278609" rpy="-1.5707963267949169861 1.5488284027870763605e-14 -1.5707963267950204589" />
<geometry>
<mesh filename="n20_right_angle_gearbox___bottom_plate.stl"/>
</geometry>
</collision>
<visual>
<origin xyz="0.0054798653126720900386 0.18249392534463268478 0.10995115686797271581" rpy="1.5707963267949218711 3.7997441536568749038e-15 0.57870963485787829672" />
<geometry>
<mesh filename="n20_right_angle_gearbox___bottom_plate_bushing.stl"/>
</geometry>
<material name="n20_right_angle_gearbox_-_bottom_plate_bushing_material">
<color rgba="0.94901960784313721398 0.76078431372549015776 0.18039215686274509554 1.0"/>
</material>
</visual>
<collision>
<origin xyz="0.0054798653126720900386 0.18249392534463268478 0.10995115686797271581" rpy="1.5707963267949218711 3.7997441536568749038e-15 0.57870963485787829672" />
<geometry>
<mesh filename="n20_right_angle_gearbox___bottom_plate_bushing.stl"/>
</geometry>
</collision>
<visual>
<origin xyz="0.0054798653126711255323 0.18249392534463348969 0.10205115686797244789" rpy="-1.5707963267949101027 1.4973490802267111423e-14 -1.5707963267950204589" />
<geometry>
<mesh filename="n20_right_angle_gearbox___top_plate.stl"/>
</geometry>
<material name="n20_right_angle_gearbox_-_top_plate_material">
<color rgba="0.94901960784313721398 0.76078431372549015776 0.18039215686274509554 1.0"/>
</material>
</visual>
<collision>
<origin xyz="0.0054798653126711255323 0.18249392534463348969 0.10205115686797244789" rpy="-1.5707963267949101027 1.4973490802267111423e-14 -1.5707963267950204589" />
<geometry>
<mesh filename="n20_right_angle_gearbox___top_plate.stl"/>
</geometry>
</collision>
<visual>
<origin xyz="0.0025393417830040093675 0.1762461532085976279 0.10602615686797278727" rpy="2.5873112815838735806e-14 -1.1429763368047472977e-14 -2.254363160075750625e-13" />
<geometry>
<mesh filename="gear_0_2m_10t___20_degree_pressure_angle.stl"/>
</geometry>
<material name="gear_0.2m_10t_-_20_degree_pressure_angle_material">
<color rgba="0.64705882352941179736 0.61960784313725492112 0.58823529411764707842 1.0"/>
</material>
</visual>
<collision>
<origin xyz="0.0025393417830040093675 0.1762461532085976279 0.10602615686797278727" rpy="2.5873112815838735806e-14 -1.1429763368047472977e-14 -2.254363160075750625e-13" />
<geometry>
<mesh filename="gear_0_2m_10t___20_degree_pressure_angle.stl"/>
</geometry>
</collision>
<visual>
<origin xyz="0.0015888931022965402384 0.17049392534463242432 0.10872564494064018703" rpy="-1.5707963267948739094 -0.39309481042651139848 -2.3118193063683049441e-13" />
<geometry>
<mesh filename="m1_4_x_3mm_lg_pan_head_screws_jis.stl"/>
</geometry>
<material name="m1.4_x_3mm_lg_pan_head_screws_jis_material">
<color rgba="0.75294117647058822484 0.75294117647058822484 0.75294117647058822484 1.0"/>
</material>
</visual>
<collision>
<origin xyz="0.0015888931022965402384 0.17049392534463242432 0.10872564494064018703" rpy="-1.5707963267948739094 -0.39309481042651139848 -2.3118193063683049441e-13" />
<geometry>
<mesh filename="m1_4_x_3mm_lg_pan_head_screws_jis.stl"/>
</geometry>
</collision>
<visual>
<origin xyz="0.0054798653126711255323 0.18249392534463348969 0.10205115686797244789" rpy="-1.5707963267949034414 -2.4457116383681098692e-14 -3.1415926535897926719" />
<geometry>
<mesh filename="n20_right_angle_gearbox___top_plate_bushing.stl"/>
</geometry>
<material name="n20_right_angle_gearbox_-_top_plate_bushing_material">
<color rgba="0.94901960784313721398 0.76078431372549015776 0.18039215686274509554 1.0"/>
</material>
</visual>
<collision>
<origin xyz="0.0054798653126711255323 0.18249392534463348969 0.10205115686797244789" rpy="-1.5707963267949034414 -2.4457116383681098692e-14 -3.1415926535897926719" />
<geometry>
<mesh filename="n20_right_angle_gearbox___top_plate_bushing.stl"/>
</geometry>
</collision>
<visual>
<origin xyz="0.0019798653126684717662 0.17299392534463350901 0.10602615686797264849" rpy="-2.5022474583040335091e-15 -1.3767367355889428829e-14 1.6580627893944868134" />
<geometry>
<mesh filename="gear_0_2m_9t___20_degree_pressure_angle.stl"/>
</geometry>
<material name="gear_0.2m_9t_-_20_degree_pressure_angle_material">
<color rgba="0.64705882352941179736 0.61960784313725492112 0.58823529411764707842 1.0"/>
</material>
</visual>
<collision>
<origin xyz="0.0019798653126684717662 0.17299392534463350901 0.10602615686797264849" rpy="-2.5022474583040335091e-15 -1.3767367355889428829e-14 1.6580627893944868134" />
<geometry>
<mesh filename="gear_0_2m_9t___20_degree_pressure_angle.stl"/>
</geometry>
</collision>
<visual>
<origin xyz="0.0054798653126699112259 0.17774392534463342996 0.1055511568679727008" rpy="3.1415926535897908956 -3.8358676157644418973e-15 -3.1415926535897922278" />
<geometry>
<mesh filename="gear_0_3m_10t___20_degree_pressure_angle.stl"/>
</geometry>
<material name="gear_0.3m_10t_-_20_degree_pressure_angle_material">
<color rgba="0.65098039215686276382 0.61960784313725492112 0.58823529411764707842 1.0"/>
</material>
</visual>
<collision>
<origin xyz="0.0054798653126699112259 0.17774392534463342996 0.1055511568679727008" rpy="3.1415926535897908956 -3.8358676157644418973e-15 -3.1415926535897922278" />
<geometry>
<mesh filename="gear_0_3m_10t___20_degree_pressure_angle.stl"/>
</geometry>
</collision>
<visual>
<origin xyz="0.0054798653126711810435 0.16999392534463300675 -0.042282425948887189526" rpy="-3.1415926535897900074 7.9959857486279807371e-15 1.2377401011885763849e-15" />
<geometry>
<mesh filename="m1_6_x_2_5mm_lg_flat_head_screws_jis.stl"/>
</geometry>
<material name="m1.6_x_2.5mm_lg_flat_head_screws_jis_material">
<color rgba="0.75294117647058822484 0.75294117647058822484 0.75294117647058822484 1.0"/>
</material>
</visual>
<collision>
<origin xyz="0.0054798653126711810435 0.16999392534463300675 -0.042282425948887189526" rpy="-3.1415926535897900074 7.9959857486279807371e-15 1.2377401011885763849e-15" />
<geometry>
<mesh filename="m1_6_x_2_5mm_lg_flat_head_screws_jis.stl"/>
</geometry>
</collision>
<visual>
<origin xyz="0.0054798653126690785586 0.17049392534463303495 -0.038001175948884628741" rpy="-1.1344640137960899651 3.0071645496057848075e-13 -1.5707963267948787944" />
<geometry>
<mesh filename="worm_0_2m_x_3_25mm_od_x_1mm_id.stl"/>
</geometry>
<material name="worm_0.2m_x_3.25mm_od_x_1mm_id_material">
<color rgba="0.94901960784313721398 0.76078431372549015776 0.18039215686274509554 1.0"/>
</material>
</visual>
<collision>
<origin xyz="0.0054798653126690785586 0.17049392534463303495 -0.038001175948884628741" rpy="-1.1344640137960899651 3.0071645496057848075e-13 -1.5707963267948787944" />
<geometry>
<mesh filename="worm_0_2m_x_3_25mm_od_x_1mm_id.stl"/>
</geometry>
</collision>
<visual>
<origin xyz="0.0012298653126673469993 0.18484392534463961466 -0.038001175948880930311" rpy="5.0525848255132728129e-14 1.5707963267947375741 0" />
<geometry>
<mesh filename="n20_right_angle_gearbox___7_9mm_spacer.stl"/>
</geometry>
<material name="n20_right_angle_gearbox_-_7.9mm_spacer_material">
<color rgba="0.94901960784313721398 0.76078431372549015776 0.18039215686274509554 1.0"/>
</material>
</visual>
<collision>
<origin xyz="0.0012298653126673469993 0.18484392534463961466 -0.038001175948880930311" rpy="5.0525848255132728129e-14 1.5707963267947375741 0" />
<geometry>
<mesh filename="n20_right_angle_gearbox___7_9mm_spacer.stl"/>
</geometry>
</collision>
<visual>
<origin xyz="0.0054798653126699944926 0.18249392534463534932 -0.033201175948877878485" rpy="1.5707963267948090724 1.5707963267944742292 0" />
<geometry>
<mesh filename="n20_right_angle_gearbox___output_shaft.stl"/>
</geometry>
<material name="n20_right_angle_gearbox_-_output_shaft_material">
<color rgba="0.79607843137254896693 0.82352941176470584317 0.9372549019607843146 1.0"/>
</material>
</visual>
<collision>
<origin xyz="0.0054798653126699944926 0.18249392534463534932 -0.033201175948877878485" rpy="1.5707963267948090724 1.5707963267944742292 0" />
<geometry>
<mesh filename="n20_right_angle_gearbox___output_shaft.stl"/>
</geometry>
</collision>
<visual>
<origin xyz="0.0054798653126689744752 0.16849392534463208948 -0.038001175948885412836" rpy="4.2608342278761595303e-15 7.4785623695953223911e-15 1.1595100436305151567e-15" />
<geometry>
<mesh filename="n20_dc_motor_face_adaptor.stl"/>
</geometry>
<material name="n20_dc_motor_face_adaptor_material">
<color rgba="0.79607843137254896693 0.82352941176470584317 0.9372549019607843146 1.0"/>
</material>
</visual>
<collision>
<origin xyz="0.0054798653126689744752 0.16849392534463208948 -0.038001175948885412836" rpy="4.2608342278761595303e-15 7.4785623695953223911e-15 1.1595100436305151567e-15" />
<geometry>
<mesh filename="n20_dc_motor_face_adaptor.stl"/>
</geometry>
</collision>
<visual>
<origin xyz="0.0084203888423367706517 0.17624615320859962631 -0.041251175948884270805" rpy="3.1415926535893619054 -3.5532411246057512573e-13 1.5707963267949389685" />
<geometry>
<mesh filename="gear_0_2m_23t___20_degree_pressure_angle.stl"/>
</geometry>
<material name="gear_0.2m_23t_-_20_degree_pressure_angle_material">
<color rgba="0.64705882352941179736 0.61960784313725492112 0.58823529411764707842 1.0"/>
</material>
</visual>
<collision>
<origin xyz="0.0084203888423367706517 0.17624615320859962631 -0.041251175948884270805" rpy="3.1415926535893619054 -3.5532411246057512573e-13 1.5707963267949389685" />
<geometry>
<mesh filename="gear_0_2m_23t___20_degree_pressure_angle.stl"/>
</geometry>
</collision>
<visual>
<origin xyz="0.0089798653126702543403 0.17299392534463442495 -0.037801175948883249112" rpy="3.141592653589788231 5.8311349477942205138e-16 0.045378560551838378889" />
<geometry>
<mesh filename="worm_gear_0_2m_20t___1mm_id.stl"/>
</geometry>
<material name="worm_gear_0.2m_20t_-_1mm_id_material">
<color rgba="0.94901960784313721398 0.76078431372549015776 0.18039215686274509554 1.0"/>
</material>
</visual>
<collision>
<origin xyz="0.0089798653126702543403 0.17299392534463442495 -0.037801175948883249112" rpy="3.141592653589788231 5.8311349477942205138e-16 0.045378560551838378889" />
<geometry>
<mesh filename="worm_gear_0_2m_20t___1mm_id.stl"/>
</geometry>
</collision>
<visual>
<origin xyz="0.0054798653126707091987 0.18249392534463870774 -0.041451175948882909572" rpy="1.5707963267952236297 -1.9441395587359024893e-13 1.2669969908063606447e-13" />
<geometry>
<mesh filename="n20_right_angle_gearbox___output_shaft_bushing.stl"/>
</geometry>
<material name="n20_right_angle_gearbox_-_output_shaft_bushing_material">
<color rgba="0.94901960784313721398 0.76078431372549015776 0.18039215686274509554 1.0"/>
</material>
</visual>
<collision>
<origin xyz="0.0054798653126707091987 0.18249392534463870774 -0.041451175948882909572" rpy="1.5707963267952236297 -1.9441395587359024893e-13 1.2669969908063606447e-13" />
<geometry>
<mesh filename="n20_right_angle_gearbox___output_shaft_bushing.stl"/>
</geometry>
</collision>
<visual>
<origin xyz="0.0054798653126692034587 0.17774392534463626103 -0.03802617594888223207" rpy="3.1415926535894769245 -4.093178178613176907e-13 1.2828170002158485463" />
<geometry>
<mesh filename="gear_0_2m_9t___20_degree_pressure_angle.stl"/>
</geometry>
<material name="gear_0.2m_9t_-_20_degree_pressure_angle_material">
<color rgba="0.64705882352941179736 0.61960784313725492112 0.58823529411764707842 1.0"/>
</material>
</visual>
<collision>
<origin xyz="0.0054798653126692034587 0.17774392534463626103 -0.03802617594888223207" rpy="3.1415926535894769245 -4.093178178613176907e-13 1.2828170002158485463" />
<geometry>
<mesh filename="gear_0_2m_9t___20_degree_pressure_angle.stl"/>
</geometry>
</collision>
<visual>
<origin xyz="0.0097298653126707823624 0.18484392534464030855 -0.038001175948879611921" rpy="-3.1415926535897313876 1.5707963267947393504 0" />
<geometry>
<mesh filename="n20_right_angle_gearbox___7_9mm_spacer.stl"/>
</geometry>
<material name="n20_right_angle_gearbox_-_7.9mm_spacer_material">
<color rgba="0.94901960784313721398 0.76078431372549015776 0.18039215686274509554 1.0"/>
</material>
</visual>
<collision>
<origin xyz="0.0097298653126707823624 0.18484392534464030855 -0.038001175948879611921" rpy="-3.1415926535897313876 1.5707963267947393504 0" />
<geometry>
<mesh filename="n20_right_angle_gearbox___7_9mm_spacer.stl"/>
</geometry>
</collision>
<visual>
<origin xyz="0.0054798653126687593695 0.18249392534463884652 -0.037451175948880414956" rpy="1.6911318389915246303e-14 2.3814910024277870683e-13 -1.57079632679490655" />
<geometry>
<mesh filename="gear_0_3m_21t___20_degree_pressure_angle.stl"/>
</geometry>
<material name="gear_0.3m_21t_-_20_degree_pressure_angle_material">
<color rgba="0.65098039215686276382 0.61960784313725492112 0.58823529411764707842 1.0"/>
</material>
</visual>
<collision>
<origin xyz="0.0054798653126687593695 0.18249392534463884652 -0.037451175948880414956" rpy="1.6911318389915246303e-14 2.3814910024277870683e-13 -1.57079632679490655" />
<geometry>
<mesh filename="gear_0_3m_21t___20_degree_pressure_angle.stl"/>
</geometry>
</collision>
<visual>
<origin xyz="0.0054798653126688218196 0.16999392534463092508 -0.033719925948882192857" rpy="3.6938709263289766512e-15 1.8172909292806892363e-15 -5.7504679239718721763e-15" />
<geometry>
<mesh filename="m1_6_x_2_5mm_lg_flat_head_screws_jis.stl"/>
</geometry>
<material name="m1.6_x_2.5mm_lg_flat_head_screws_jis_material">
<color rgba="0.75294117647058822484 0.75294117647058822484 0.75294117647058822484 1.0"/>
</material>
</visual>
<collision>
<origin xyz="0.0054798653126688218196 0.16999392534463092508 -0.033719925948882192857" rpy="3.6938709263289766512e-15 1.8172909292806892363e-15 -5.7504679239718721763e-15" />
<geometry>
<mesh filename="m1_6_x_2_5mm_lg_flat_head_screws_jis.stl"/>
</geometry>
</collision>
<visual>
<origin xyz="0.001588893102293556514 0.17049392534463264637 -0.035276687876216128448" rpy="1.5707963267945910246 0.39309481042675603613 3.141592653589793116" />
<geometry>
<mesh filename="m1_4_x_3mm_lg_pan_head_screws_jis.stl"/>
</geometry>
<material name="m1.4_x_3mm_lg_pan_head_screws_jis_material">
<color rgba="0.75294117647058822484 0.75294117647058822484 0.75294117647058822484 1.0"/>
</material>
</visual>
<collision>
<origin xyz="0.001588893102293556514 0.17049392534463264637 -0.035276687876216128448" rpy="1.5707963267945910246 0.39309481042675603613 3.141592653589793116" />
<geometry>
<mesh filename="m1_4_x_3mm_lg_pan_head_screws_jis.stl"/>
</geometry>
</collision>
<visual>
<origin xyz="0.0054798653126715141104 0.18249392534463876325 -0.042951175948883535405" rpy="1.5707963267950721953 2.8449905159743561493e-13 -1.5707963267948861219" />
<geometry>
<mesh filename="n20_right_angle_gearbox___bottom_plate.stl"/>
</geometry>
<material name="n20_right_angle_gearbox_-_bottom_plate_material">
<color rgba="0.94901960784313721398 0.76078431372549015776 0.18039215686274509554 1.0"/>
</material>
</visual>
<collision>
<origin xyz="0.0054798653126715141104 0.18249392534463876325 -0.042951175948883535405" rpy="1.5707963267950721953 2.8449905159743561493e-13 -1.5707963267948861219" />
<geometry>
<mesh filename="n20_right_angle_gearbox___bottom_plate.stl"/>
</geometry>
</collision>
<visual>
<origin xyz="0.0054798653126709659378 0.18249392534463884652 -0.041951175948882986344" rpy="-1.5707963267952564923 -1.3055804496685800925e-14 2.5628830187318070166" />
<geometry>
<mesh filename="n20_right_angle_gearbox___bottom_plate_bushing.stl"/>
</geometry>
<material name="n20_right_angle_gearbox_-_bottom_plate_bushing_material">
<color rgba="0.94901960784313721398 0.76078431372549015776 0.18039215686274509554 1.0"/>
</material>
</visual>
<collision>
<origin xyz="0.0054798653126709659378 0.18249392534463884652 -0.041951175948882986344" rpy="-1.5707963267952564923 -1.3055804496685800925e-14 2.5628830187318070166" />
<geometry>
<mesh filename="n20_right_angle_gearbox___bottom_plate_bushing.stl"/>
</geometry>
</collision>
<visual>
<origin xyz="0.0054798653126693491755 0.18249392534463620974 -0.034051175948878624478" rpy="1.5707963267950779684 2.8440059200606640276e-13 -1.5707963267948861219" />
<geometry>
<mesh filename="n20_right_angle_gearbox___top_plate.stl"/>
</geometry>
<material name="n20_right_angle_gearbox_-_top_plate_material">
<color rgba="0.94901960784313721398 0.76078431372549015776 0.18039215686274509554 1.0"/>
</material>
</visual>
<collision>
<origin xyz="0.0054798653126693491755 0.18249392534463620974 -0.034051175948878624478" rpy="1.5707963267950779684 2.8440059200606640276e-13 -1.5707963267948861219" />
<geometry>
<mesh filename="n20_right_angle_gearbox___top_plate.stl"/>
</geometry>
</collision>
<visual>
<origin xyz="0.0084203888423349804171 0.17624615320859959855 -0.038026175948882377786" rpy="3.1415926535891074423 4.5666207483566992985e-13 -3.141592653589579065" />
<geometry>
<mesh filename="gear_0_2m_10t___20_degree_pressure_angle.stl"/>
</geometry>
<material name="gear_0.2m_10t_-_20_degree_pressure_angle_material">
<color rgba="0.64705882352941179736 0.61960784313725492112 0.58823529411764707842 1.0"/>
</material>
</visual>
<collision>
<origin xyz="0.0084203888423349804171 0.17624615320859959855 -0.038026175948882377786" rpy="3.1415926535891074423 4.5666207483566992985e-13 -3.141592653589579065" />
<geometry>
<mesh filename="gear_0_2m_10t___20_degree_pressure_angle.stl"/>
</geometry>
</collision>
<visual>
<origin xyz="0.0093708375230445103976 0.1704939253446333125 -0.04072566402155290699" rpy="1.5707963267945910246 0.39309481042675603613 3.141592653589793116" />
<geometry>
<mesh filename="m1_4_x_3mm_lg_pan_head_screws_jis.stl"/>
</geometry>
<material name="m1.4_x_3mm_lg_pan_head_screws_jis_material">
<color rgba="0.75294117647058822484 0.75294117647058822484 0.75294117647058822484 1.0"/>
</material>
</visual>
<collision>
<origin xyz="0.0093708375230445103976 0.1704939253446333125 -0.04072566402155290699" rpy="1.5707963267945910246 0.39309481042675603613 3.141592653589793116" />
<geometry>
<mesh filename="m1_4_x_3mm_lg_pan_head_screws_jis.stl"/>
</geometry>
</collision>
<visual>
<origin xyz="0.0054798653126695087701 0.1824939253446364873 -0.034051175948878596722" rpy="1.5707963267952236297 -1.9441395587359024893e-13 1.2669969908063606447e-13" />
<geometry>
<mesh filename="n20_right_angle_gearbox___top_plate_bushing.stl"/>
</geometry>
<material name="n20_right_angle_gearbox_-_top_plate_bushing_material">
<color rgba="0.94901960784313721398 0.76078431372549015776 0.18039215686274509554 1.0"/>
</material>
</visual>
<collision>
<origin xyz="0.0054798653126695087701 0.1824939253446364873 -0.034051175948878596722" rpy="1.5707963267952236297 -1.9441395587359024893e-13 1.2669969908063606447e-13" />
<geometry>
<mesh filename="n20_right_angle_gearbox___top_plate_bushing.stl"/>
</geometry>
</collision>
<visual>
<origin xyz="0.0089798653126705041405 0.17299392534463434168 -0.038026175948883481071" rpy="3.1415926535894014293 -3.7543482154943072119e-13 1.483529864195228587" />
<geometry>
<mesh filename="gear_0_2m_9t___20_degree_pressure_angle.stl"/>
</geometry>
<material name="gear_0.2m_9t_-_20_degree_pressure_angle_material">
<color rgba="0.64705882352941179736 0.61960784313725492112 0.58823529411764707842 1.0"/>
</material>
</visual>
<collision>
<origin xyz="0.0089798653126705041405 0.17299392534463434168 -0.038026175948883481071" rpy="3.1415926535894014293 -3.7543482154943072119e-13 1.483529864195228587" />
<geometry>
<mesh filename="gear_0_2m_9t___20_degree_pressure_angle.stl"/>
</geometry>
</collision>
<visual>
<origin xyz="0.0054798653126690091697 0.17774392534463648308 -0.037551175948882097033" rpy="4.2608342278761595303e-15 7.4785623695953223911e-15 1.1595100436305151567e-15" />
<geometry>
<mesh filename="gear_0_3m_10t___20_degree_pressure_angle.stl"/>
</geometry>
<material name="gear_0.3m_10t_-_20_degree_pressure_angle_material">
<color rgba="0.65098039215686276382 0.61960784313725492112 0.58823529411764707842 1.0"/>
</material>
</visual>
<collision>
<origin xyz="0.0054798653126690091697 0.17774392534463648308 -0.037551175948882097033" rpy="4.2608342278761595303e-15 7.4785623695953223911e-15 1.1595100436305151567e-15" />
<geometry>
<mesh filename="gear_0_3m_10t___20_degree_pressure_angle.stl"/>
</geometry>
</collision>
<visual>
<origin xyz="-0.050080219938809386604 0.086000000000000020872 0.014999999999999992506" rpy="-1.5707963267948958919 -1.570796326794896558 0" />
<geometry>
<mesh filename="camlens1.stl"/>
</geometry>
<material name="camlens1_material">
<color rgba="0.10196078431372548878 0.10196078431372548878 0.10196078431372548878 1.0"/>
</material>
</visual>
<collision>
<origin xyz="-0.050080219938809386604 0.086000000000000020872 0.014999999999999992506" rpy="-1.5707963267948958919 -1.570796326794896558 0" />
<geometry>
<mesh filename="camlens1.stl"/>
</geometry>
</collision>
<visual>
<origin xyz="-0.050080219938809386604 0.086000000000000020872 0.014999999999999992506" rpy="-1.5707963267948954478 -1.570796326794896558 0" />
<geometry>
<mesh filename="camlens2.stl"/>
</geometry>
<material name="camlens2_material">
<color rgba="0.10196078431372548878 0.10196078431372548878 0.10196078431372548878 1.0"/>
</material>
</visual>
<collision>
<origin xyz="-0.050080219938809386604 0.086000000000000020872 0.014999999999999992506" rpy="-1.5707963267948954478 -1.570796326794896558 0" />
<geometry>
<mesh filename="camlens2.stl"/>
</geometry>
</collision>
<visual>
<origin xyz="-0.050000000000000086042 0.085999999999999993117 0.015000000000000006384" rpy="-1.5707963267948990005 -1.570796326794896336 0" />
<geometry>
<mesh filename="camplate.stl"/>
</geometry>
<material name="camplate_material">
<color rgba="0.28627450980392155078 0.6627450980392156632 0.32941176470588234837 1.0"/>
</material>
</visual>
<collision>
<origin xyz="-0.050000000000000086042 0.085999999999999993117 0.015000000000000006384" rpy="-1.5707963267948990005 -1.570796326794896336 0" />
<geometry>
<mesh filename="camplate.stl"/>
</geometry>
</collision>
<visual>
<origin xyz="0.0092998653126703731409 0.24165000000000802505 0.040349990459543350063" rpy="-1.570796326794896336 1.570796326794896336 0" />
<geometry>
<mesh filename="trou1.stl"/>
</geometry>
<material name="trou1_material">
<color rgba="0.59607843137254901134 0.12156862745098039047 0.6745098039215686736 1.0"/>
</material>
</visual>
<collision>
<origin xyz="0.0092998653126703731409 0.24165000000000802505 0.040349990459543350063" rpy="-1.570796326794896336 1.570796326794896336 0" />
<geometry>
<mesh filename="trou1.stl"/>
</geometry>
</collision>
<visual>
<origin xyz="0.0092998653126702551797 0.24165000000000874669 0.035269990459543328065" rpy="-1.570796326794896336 1.570796326794896336 0" />
<geometry>
<mesh filename="trou1.stl"/>
</geometry>
<material name="trou1_material">
<color rgba="0.59607843137254901134 0.12156862745098039047 0.6745098039215686736 1.0"/>
</material>
</visual>
<collision>
<origin xyz="0.0092998653126702551797 0.24165000000000874669 0.035269990459543328065" rpy="-1.570796326794896336 1.570796326794896336 0" />
<geometry>
<mesh filename="trou1.stl"/>
</geometry>
</collision>
<visual>
<origin xyz="0.009299865312668728623 0.24165000000000824709 0.037809990459543148245" rpy="-1.570796326794896336 1.570796326794896336 0" />
<geometry>
<mesh filename="trou1.stl"/>
</geometry>
<material name="trou1_material">
<color rgba="0.59607843137254901134 0.12156862745098039047 0.6745098039215686736 1.0"/>
</material>
</visual>
<collision>
<origin xyz="0.009299865312668728623 0.24165000000000824709 0.037809990459543148245" rpy="-1.570796326794896336 1.570796326794896336 0" />
<geometry>
<mesh filename="trou1.stl"/>
</geometry>
</collision>
<visual>
<origin xyz="0.009299865312671407036 0.24165000000000669278 0.027649990459543510174" rpy="-1.570796326794896336 1.570796326794896336 0" />
<geometry>
<mesh filename="trou1.stl"/>
</geometry>
<material name="trou1_material">
<color rgba="0.59607843137254901134 0.12156862745098039047 0.6745098039215686736 1.0"/>
</material>
</visual>
<collision>
<origin xyz="0.009299865312671407036 0.24165000000000669278 0.027649990459543510174" rpy="-1.570796326794896336 1.570796326794896336 0" />
<geometry>
<mesh filename="trou1.stl"/>
</geometry>
</collision>
<visual>
<origin xyz="0.0092998653126712890749 0.24165000000000672054 0.030189990459543548929" rpy="-1.570796326794896336 1.570796326794896336 0" />
<geometry>
<mesh filename="trou1.stl"/>
</geometry>
<material name="trou1_material">
<color rgba="0.59607843137254901134 0.12156862745098039047 0.6745098039215686736 1.0"/>
</material>
</visual>
<collision>
<origin xyz="0.0092998653126712890749 0.24165000000000672054 0.030189990459543548929" rpy="-1.570796326794896336 1.570796326794896336 0" />
<geometry>
<mesh filename="trou1.stl"/>
</geometry>
</collision>
<visual>
<origin xyz="0.0092998653126704633465 0.2416500000000073034 0.03272999045954341768" rpy="-1.570796326794896336 1.570796326794896336 0" />
<geometry>
<mesh filename="trou1.stl"/>
</geometry>
<material name="trou1_material">
<color rgba="0.59607843137254901134 0.12156862745098039047 0.6745098039215686736 1.0"/>
</material>
</visual>
<collision>
<origin xyz="0.0092998653126704633465 0.2416500000000073034 0.03272999045954341768" rpy="-1.570796326794896336 1.570796326794896336 0" />
<geometry>
<mesh filename="trou1.stl"/>
</geometry>
</collision>
<visual>
<origin xyz="0.0054798653126689675363 0.16849392534463208948 0.10600115686797231818" rpy="-1.5707963267949034414 -2.4457116383681098692e-14 -3.1415926535897926719" />
<geometry>
<mesh filename="n20_micro_dc_motor_new.stl"/>
</geometry>
<material name="n20_micro_dc_motor_new_material">
<color rgba="0.79607843137254896693 0.82352941176470584317 0.9372549019607843146 1.0"/>
</material>
</visual>
<collision>
<origin xyz="0.0054798653126689675363 0.16849392534463208948 0.10600115686797231818" rpy="-1.5707963267949034414 -2.4457116383681098692e-14 -3.1415926535897926719" />
<geometry>
<mesh filename="n20_micro_dc_motor_new.stl"/>
</geometry>
</collision>
<visual>
<origin xyz="0.0054798653126689675363 0.16849392534463208948 0.10600115686797231818" rpy="-1.5707963267949034414 -2.4457116383681098692e-14 -3.1415926535897926719" />
<geometry>
<mesh filename="n20_micro_dc_motor_new.stl"/>
</geometry>
<material name="n20_micro_dc_motor_new_material">
<color rgba="0.79607843137254896693 0.82352941176470584317 0.9372549019607843146 1.0"/>
</material>
</visual>
<collision>
<origin xyz="0.0054798653126689675363 0.16849392534463208948 0.10600115686797231818" rpy="-1.5707963267949034414 -2.4457116383681098692e-14 -3.1415926535897926719" />
<geometry>
<mesh filename="n20_micro_dc_motor_new.stl"/>
</geometry>
</collision>
<visual>
<origin xyz="0.0054798653126689744752 0.16849392534463208948 -0.038001175948885412836" rpy="1.5707963267952236297 -1.9441395587359024893e-13 1.2669969908063606447e-13" />
<geometry>
<mesh filename="n20_micro_dc_motor_new.stl"/>
</geometry>
<material name="n20_micro_dc_motor_new_material">
<color rgba="0.79607843137254896693 0.82352941176470584317 0.9372549019607843146 1.0"/>
</material>
</visual>
<collision>
<origin xyz="0.0054798653126689744752 0.16849392534463208948 -0.038001175948885412836" rpy="1.5707963267952236297 -1.9441395587359024893e-13 1.2669969908063606447e-13" />
<geometry>
<mesh filename="n20_micro_dc_motor_new.stl"/>
</geometry>
</collision>
<visual>
<origin xyz="0.0054798653126689744752 0.16849392534463208948 -0.038001175948885412836" rpy="1.5707963267952236297 -1.9441395587359024893e-13 1.2669969908063606447e-13" />
<geometry>
<mesh filename="n20_micro_dc_motor_new.stl"/>
</geometry>
<material name="n20_micro_dc_motor_new_material">
<color rgba="0.79607843137254896693 0.82352941176470584317 0.9372549019607843146 1.0"/>
</material>
</visual>
<collision>
<origin xyz="0.0054798653126689744752 0.16849392534463208948 -0.038001175948885412836" rpy="1.5707963267952236297 -1.9441395587359024893e-13 1.2669969908063606447e-13" />
<geometry>
<mesh filename="n20_micro_dc_motor_new.stl"/>
</geometry>
</collision>
<inertial>
<origin xyz="0.0065348267850378356086 0.12051132684725716915 0.034733613297678010701" rpy="0 0 0"/>
<mass value="0.79094546340142368734" />
<inertia ixx="0.0046632383270625360136" ixy="-0.00027010997067366756836"  ixz="-3.530005880378926864e-05" iyy="0.0015192069971052607133" iyz="-0.00017685655428278961769" izz="0.0035829633385495930804" />
</inertial>
</link>

<link name="clawmtrside">
<visual>
<origin xyz="0 -6.9388939039072283776e-18 -0.0010000000000000008882" rpy="1.570796326794896558 1.570796326794896558 0" />
<geometry>
<mesh filename="clawmtrside.stl"/>
</geometry>
<material name="clawmtrside_material">
<color rgba="0.52941176470588235947 0.56862745098039213509 0.5999999999999999778 1.0"/>
</material>
</visual>
<collision>
<origin xyz="0 -6.9388939039072283776e-18 -0.0010000000000000008882" rpy="1.570796326794896558 1.570796326794896558 0" />
<geometry>
<mesh filename="clawmtrside.stl"/>
</geometry>
</collision>
<inertial>
<origin xyz="-0.063877435033054111302 -0.0024428308737110548954 -0.013347511348260369599" rpy="0 0 0"/>
<mass value="0.033622996287386471004" />
<inertia ixx="5.4105175157285417432e-06" ixy="-3.114375234364007686e-06"  ixz="-7.0962289823191605548e-06" iyy="4.6445834261959482233e-05" iyz="-3.9401730748544676047e-07" izz="4.3650024642082140924e-05" />
</inertial>
</link>

<joint name="ClawMtr" type="revolute">
<origin xyz="-0.0224601346873310459 0.20099999999999995648 0.052499990459543566246" rpy="1.5707963267948952257 1.4786932333387168975e-15 -1.5707963267948983344" />
<parent link="endsegment" />
<child link="clawmtrside" />
<axis xyz="0 0 1"/>
<limit effort="1" velocity="20" lower="-1.0471975511965976313" upper="0"/>
<joint_properties friction="0.0"/>
</joint>

<link name="clawfollowside">
<visual>
<origin xyz="0 5.2041704279304212832e-18 -0.0026899999999999979483" rpy="1.570796326794896558 1.570796326794896558 0" />
<geometry>
<mesh filename="clawfollowside.stl"/>
</geometry>
<material name="clawfollowside_material">
<color rgba="0.52941176470588235947 0.56862745098039213509 0.5999999999999999778 1.0"/>
</material>
</visual>
<collision>
<origin xyz="0 5.2041704279304212832e-18 -0.0026899999999999979483" rpy="1.570796326794896558 1.570796326794896558 0" />
<geometry>
<mesh filename="clawfollowside.stl"/>
</geometry>
</collision>
<inertial>
<origin xyz="-0.05736371833362057665 -0.0022332088452259707921 0.0047071983589400279852" rpy="0 0 0"/>
<mass value="0.036770744416095735296" />
<inertia ixx="5.6249179855375623082e-06" ixy="-3.66344325715279844e-06"  ixz="8.6912400887573927719e-06" iyy="5.8617386393050711663e-05" iyz="5.2296313818592364597e-07" izz="5.6078235158770549482e-05" />
</inertial>
</link>

<joint name="ClawFollow" type="revolute">
<origin xyz="-0.015210134687331081094 0.20100000000000003975 0.015499990459543266236" rpy="-1.5707963267948974462 1.1629040784054636965e-15 -1.570796326794896336" />
<parent link="endsegment" />
<child link="clawfollowside" />
<axis xyz="0 0 1"/>
<limit effort="1" velocity="20" lower="-1.0471975511965976313" upper="0"/>
<joint_properties friction="0.0"/>
</joint>

<joint name="Seg2Seg3" type="revolute">
<origin xyz="-1.3234128019498636597e-07 0.20650000000000001688 6.1124734614115272535e-11" rpy="1.0135982315380252905e-14 -4.1883910821596140215e-15 -1.9198621771937585123" />
<parent link="midsegment" />
<child link="endsegment" />
<axis xyz="0 0 1"/>
<limit effort="1" velocity="20" lower="-1.9198621771937625091" upper="1.570796326794896558"/>
<joint_properties friction="0.0"/>
</joint>

<joint name="Seg1Seg2" type="revolute">
<origin xyz="0.040966902778344346792 0.026485047685537856793 -0.12135809818744804078" rpy="1.1597400190701614431 -0.25312482523010954027 1.9562319100854841381" />
<parent link="bot1" />
<child link="midsegment" />
<axis xyz="0 0 1"/>
<limit effort="1" velocity="20" lower="0" upper="1.570796326794896558"/>
<joint_properties friction="0.0"/>
</joint>


</robot>
